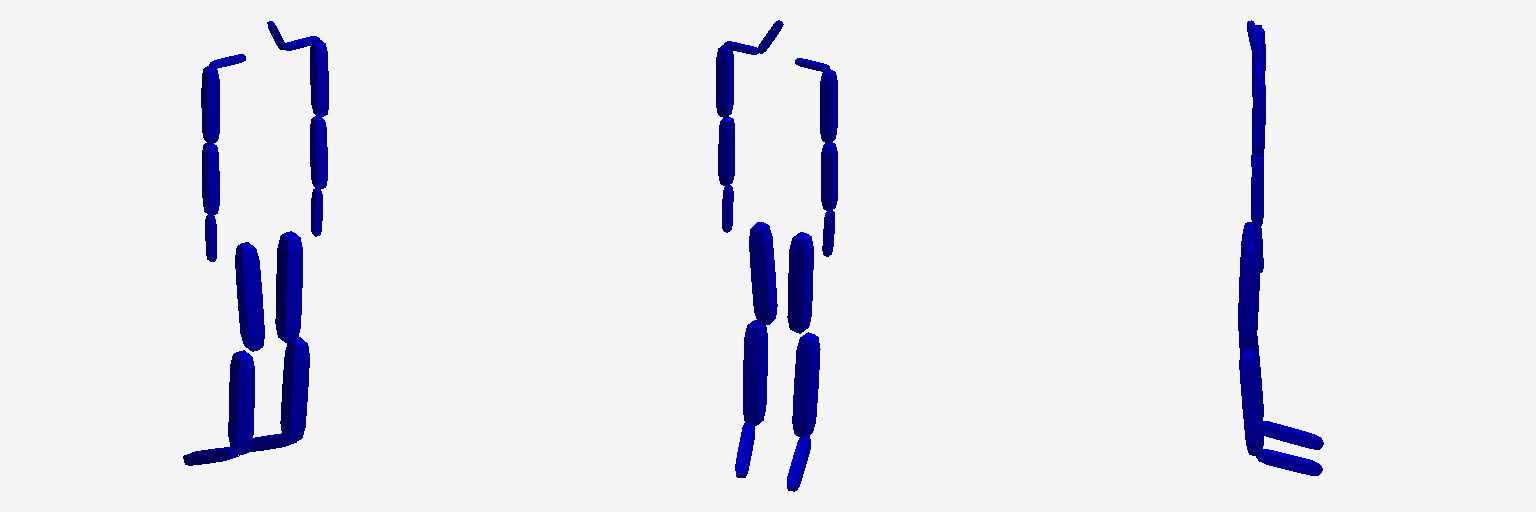
--- Facts derived from the render (not from the file) ---
Views: 3 orthographic renders of the robot side by side, from view 1: azimuth 30°, elevation 25°; view 2: azimuth 150°, elevation 25°; view 3: azimuth 270°, elevation 25°.
Model rocketbox_male with 163 links and 162 joints (156 revolute, 3 continuous, 3 prismatic), rooted at root_link, posed all joints at 0.
Links seen in each view (by area): view 1: upper_right_leg_x_joint_x_link, upper_left_leg_x_joint_x_link, lower_right_leg_joint_x_link, lower_left_leg_joint_x_link, upper_left_arm_x_joint_x_link, upper_right_arm_x_joint_x_link, lower_left_arm_joint_x_link, lower_right_arm_joint_x_link, left_foot_x_joint_x_link; view 2: lower_left_leg_joint_x_link, lower_right_leg_joint_x_link, upper_right_leg_x_joint_x_link, upper_left_leg_x_joint_x_link, upper_left_arm_x_joint_x_link, upper_right_arm_x_joint_x_link, lower_left_arm_joint_x_link, lower_right_arm_joint_x_link, left_foot_x_joint_x_link, right_foot_x_joint_x_link; view 3: lower_right_leg_joint_x_link, upper_right_leg_x_joint_x_link, upper_right_arm_x_joint_x_link, right_foot_x_joint_x_link, left_foot_x_joint_x_link, lower_right_arm_joint_x_link.
Boxes of the visible links, x1,y1,x2,y2 form: upper_right_leg_x_joint_x_link: (275,231,302,342); upper_left_leg_x_joint_x_link: (235,242,264,351); lower_right_leg_joint_x_link: (280,337,309,442); lower_left_leg_joint_x_link: (228,350,254,455); upper_left_arm_x_joint_x_link: (201,66,219,143); upper_right_arm_x_joint_x_link: (310,40,328,117); lower_left_arm_joint_x_link: (202,142,219,215); lower_right_arm_joint_x_link: (310,116,327,189); left_foot_x_joint_x_link: (183,447,238,465); lower_left_leg_joint_x_link: (792,332,820,436); lower_right_leg_joint_x_link: (743,320,767,425); upper_right_leg_x_joint_x_link: (749,222,777,324); upper_left_leg_x_joint_x_link: (787,232,813,333); upper_left_arm_x_joint_x_link: (820,69,837,143); upper_right_arm_x_joint_x_link: (716,45,733,117); lower_left_arm_joint_x_link: (821,142,837,211); lower_right_arm_joint_x_link: (718,116,734,186); left_foot_x_joint_x_link: (787,436,810,491); right_foot_x_joint_x_link: (735,422,754,477); lower_right_leg_joint_x_link: (1239,350,1263,455); upper_right_leg_x_joint_x_link: (1238,243,1259,347); upper_right_arm_x_joint_x_link: (1252,80,1265,156); right_foot_x_joint_x_link: (1256,449,1322,475); left_foot_x_joint_x_link: (1263,421,1323,449); lower_right_arm_joint_x_link: (1251,156,1263,226).
Bounding box of the posed robot: 0.5733 × 0.3676 × 2.07 m (x, y, z).
Meshes: 52 distinct files referenced, 51 mesh visuals loaded (51 OBJ); not drawn: 1 (reference not matched to a file when rendering).

robot.urdf — rocketbox_male:
<?xml version="1.0"?>
<robot xmlns:sensor="http://playerstage.sourceforge.net/gazebo/xmlschema/#sensor"
       xmlns:controller="http://playerstage.sourceforge.net/gazebo/xmlschema/#controller"
       xmlns:interface="http://playerstage.sourceforge.net/gazebo/xmlschema/#interface"
       xmlns:xacro="http://playerstage.sourceforge.net/gazebo/xmlschema/#interface"
       name="rocketbox_male" >

    <material name="Blue">
      <color rgba="0.0 0.0 0.8 1.0"/>
    </material>
    <material name="Green">
      <color rgba="0.0 0.8 0.0 1.0"/>
    </material>
    <material name="Grey">
      <color rgba="0.7 0.7 0.7 1.0"/>
    </material>
    <material name="Grey2">
      <color rgba="0.9 0.9 0.9 1.0"/>
    </material>
    <material name="Red">
      <color rgba="0.8 0.0 0.0 1.0"/>
    </material>
    <material name="White">
      <color rgba="1.0 1.0 1.0 1.0"/>
    </material>
    <material name="Black">
      <color rgba="0.1 0.1 0.1 1.0"/>
    </material>
    <material name="LightGrey">
      <color rgba="0.6 0.6 0.6 1.0"/>
    </material>

    <link name="root_link"/>
      <link name="base_prismatic_dummy1">
        <visual>
          <origin rpy="0 0 0" xyz="0 0 0"/>
          <geometry>
            <box size="0.001 0.001 0.001"/>
          </geometry>
          <material name="Blue"/>
        </visual>
      </link>
      <link name="base_prismatic_dummy2">
        <visual>
          <origin rpy="0 0 0" xyz="0 0 0"/>
          <geometry>
            <box size="0.001 0.001 0.001"/>
          </geometry>
          <material name="Blue"/>
        </visual>
      </link>
      <link name="base_prismatic_dummy3">
        <visual>
          <origin rpy="0 0 0" xyz="0 0 0"/>
          <geometry>
            <box size="0.001 0.001 0.001"/>
          </geometry>
          <material name="Blue"/>
        </visual>
      </link>
      <link name="base_revolute_dummy1">
        <visual>
          <origin rpy="0 0 0" xyz="0 0 0"/>
          <geometry>
            <box size="0.001 0.001 0.001"/>
          </geometry>
          <material name="Blue"/>
        </visual>
      </link>
      <link name="base_revolute_dummy2">
        <visual>
          <origin rpy="0 0 0" xyz="0 0 0"/>
          <geometry>
            <box size="0.001 0.001 0.001"/>
          </geometry>
          <material name="Blue"/>
        </visual>
      </link>
      <joint name="base_prismatic_joint_x" type="prismatic">
        <axis xyz="1 0 0"/>
        <limit effort="10000" lower ="-5.0" upper="5.0" velocity ="0.6"/>
        <origin rpy="0 0 0" xyz="0 0 1.1713"/>
        <parent link="root_link"/>
        <child link="base_prismatic_dummy1"/>
      </joint>
      <joint name="base_prismatic_joint_y" type="prismatic">
        <axis xyz="0 1 0"/>
        <limit effort="10000" lower ="-5.0" upper="5.0" velocity ="0.6"/>
        <origin rpy="0 0 0" xyz="0 0 0"/>
        <parent link="base_prismatic_dummy1"/>
        <child link="base_prismatic_dummy2"/>
      </joint>
      <joint name="base_prismatic_joint_z" type="prismatic">
        <axis xyz="0 0 1"/>
        <limit effort="10000" lower ="-5.0" upper="5.0" velocity ="0.6"/>
        <origin rpy="0 0 0" xyz="0 0 0"/>
        <parent link="base_prismatic_dummy2"/>
        <child link="base_prismatic_dummy3"/>
      </joint>
      <joint name="base_revolute_joint_x" type="continuous">
        <axis xyz="1 0 0"/>
        <origin rpy="0 0 0" xyz="0 0 0"/>
        <parent link="base_prismatic_dummy3"/>
        <child link="base_revolute_dummy1"/>
      </joint>
      <joint name="base_revolute_joint_y" type="continuous">
        <axis xyz="0 1 0"/>
        <origin rpy="0 0 0" xyz="0 0 0"/>
        <parent link="base_revolute_dummy1"/>
        <child link="base_revolute_dummy2"/>
      </joint>
      <joint name="base_revolute_joint_z" type="continuous">
        <axis xyz="0 0 1"/>
        <origin rpy="0 0 0" xyz="0 0 0"/>
        <parent link="base_revolute_dummy2"/>
        <child link="pelvis_link"/>
      </joint>
      <link name="pelvis_link"/>
      <link name="torso_x_joint_z_link"/>
      <link name="torso_x_joint_y_link"/>
      <link name="torso_x_joint_x_link">
        <visual>
          <origin rpy="0 0 0" xyz="0 0 0"/>
          <geometry>
            <mesh filename="../rami/model/torso_x_joint.obj"/>
          </geometry>
          <material name="Blue"/>
        </visual>
        <collision>
          <origin rpy="0 0 0" xyz="0 0 0"/>
          <geometry>
            <mesh filename="../rami/model/torso_x_joint.obj"/>
          </geometry>
        </collision>
      </link>
      <joint name="torso_x_joint_z_joint" type ="revolute">
          <axis xyz="0 0 1"/>
          <limit effort="10000" lower ="-3.14" upper="3.14" velocity ="0.6"/>
          <origin rpy="0 0 0" xyz="0 0.010284 0.327936"/>
          <parent link="pelvis_link"/>
          <child link="torso_x_joint_z_link"/>
      </joint>
      <joint name="torso_x_joint_y_joint" type ="revolute">
          <axis xyz="0 1 0"/>
          <limit effort="10000" lower ="-3.14" upper="3.14" velocity ="0.6"/>
          <origin rpy="0 0 0" xyz="0 0 0"/>
          <parent link="torso_x_joint_z_link"/>
          <child link="torso_x_joint_y_link"/>
      </joint>
      <joint name="torso_x_joint_x_joint" type ="revolute">
          <axis xyz="1 0 0"/>
          <limit effort="10000" lower ="-3.14" upper="3.14" velocity ="0.6"/>
          <origin rpy="0 0 0" xyz="0 0 0"/>
          <parent link="torso_x_joint_y_link"/>
          <child link="torso_x_joint_x_link"/>
      </joint>
      <link name="head_x_joint_z_link"/>
      <link name="head_x_joint_y_link"/>
      <link name="head_x_joint_x_link">
        <visual>
          <origin rpy="0 0 0" xyz="0 0 0"/>
          <geometry>
            <mesh filename="../rami/model/head_x_joint.obj"/>
          </geometry>
          <material name="Blue"/>
        </visual>
        <collision>
          <origin rpy="0 0 0" xyz="0 0 0"/>
          <geometry>
            <mesh filename="../rami/model/head_x_joint.obj"/>
          </geometry>
        </collision>
      </link>
      <joint name="head_x_joint_z_joint" type ="revolute">
          <axis xyz="0 0 1"/>
          <limit effort="10000" lower ="-3.14" upper="3.14" velocity ="0.6"/>
          <origin rpy="0 0 0" xyz="0 -0.020052 0.50232"/>
          <parent link="torso_x_joint_x_link"/>
          <child link="head_x_joint_z_link"/>
      </joint>
      <joint name="head_x_joint_y_joint" type ="revolute">
          <axis xyz="0 1 0"/>
          <limit effort="10000" lower ="-3.14" upper="3.14" velocity ="0.6"/>
          <origin rpy="0 0 0" xyz="0 0 0"/>
          <parent link="head_x_joint_z_link"/>
          <child link="head_x_joint_y_link"/>
      </joint>
      <joint name="head_x_joint_x_joint" type ="revolute">
          <axis xyz="1 0 0"/>
          <limit effort="10000" lower ="-3.14" upper="3.14" velocity ="0.6"/>
          <origin rpy="0 0 0" xyz="0 0 0"/>
          <parent link="head_x_joint_y_link"/>
          <child link="head_x_joint_x_link"/>
      </joint>
      <link name="upper_left_specula_joint_z_link"/>
      <link name="upper_left_specula_joint_y_link"/>
      <link name="upper_left_specula_joint_x_link">
        <visual>
          <origin rpy="0 0 0" xyz="0 0 0"/>
          <geometry>
            <mesh filename="../rami/model/upper_left_specula_joint.obj"/>
          </geometry>
          <material name="Blue"/>
        </visual>
        <collision>
          <origin rpy="0 0 0" xyz="0 0 0"/>
          <geometry>
            <mesh filename="../rami/model/upper_left_specula_joint.obj"/>
          </geometry>
        </collision>
      </link>
      <joint name="upper_left_specula_joint_z_joint" type ="revolute">
          <axis xyz="0 0 1"/>
          <limit effort="10000" lower ="-3.14" upper="3.14" velocity ="0.6"/>
          <origin rpy="0 0 0" xyz="-0.0873828 0.0381 -0.153156"/>
          <parent link="head_x_joint_x_link"/>
          <child link="upper_left_specula_joint_z_link"/>
      </joint>
      <joint name="upper_left_specula_joint_y_joint" type ="revolute">
          <axis xyz="0 1 0"/>
          <limit effort="10000" lower ="-3.14" upper="3.14" velocity ="0.6"/>
          <origin rpy="0 0 0" xyz="0 0 0"/>
          <parent link="upper_left_specula_joint_z_link"/>
          <child link="upper_left_specula_joint_y_link"/>
      </joint>
      <joint name="upper_left_specula_joint_x_joint" type ="revolute">
          <axis xyz="1 0 0"/>
          <limit effort="10000" lower ="-3.14" upper="3.14" velocity ="0.6"/>
          <origin rpy="0 0 0" xyz="0 0 0"/>
          <parent link="upper_left_specula_joint_y_link"/>
          <child link="upper_left_specula_joint_x_link"/>
      </joint>
      <link name="upper_left_arm_x_joint_z_link"/>
      <link name="upper_left_arm_x_joint_y_link"/>
      <link name="upper_left_arm_x_joint_x_link">
        <visual>
          <origin rpy="0 0 0" xyz="0 0 0"/>
          <geometry>
            <mesh filename="../rami/model/upper_left_arm_x_joint.obj"/>
          </geometry>
          <material name="Blue"/>
        </visual>
        <collision>
          <origin rpy="0 0 0" xyz="0 0 0"/>
          <geometry>
            <mesh filename="../rami/model/upper_left_arm_x_joint.obj"/>
          </geometry>
        </collision>
      </link>
      <joint name="upper_left_arm_x_joint_z_joint" type ="revolute">
          <axis xyz="0 0 1"/>
          <limit effort="10000" lower ="-3.14" upper="3.14" velocity ="0.6"/>
          <origin rpy="0 0 0" xyz="-0.169296 0 0"/>
          <parent link="upper_left_specula_joint_x_link"/>
          <child link="upper_left_arm_x_joint_z_link"/>
      </joint>
      <joint name="upper_left_arm_x_joint_y_joint" type ="revolute">
          <axis xyz="0 1 0"/>
          <limit effort="10000" lower ="-3.14" upper="3.14" velocity ="0.6"/>
          <origin rpy="0 0 0" xyz="0 0 0"/>
          <parent link="upper_left_arm_x_joint_z_link"/>
          <child link="upper_left_arm_x_joint_y_link"/>
      </joint>
      <joint name="upper_left_arm_x_joint_x_joint" type ="revolute">
          <axis xyz="1 0 0"/>
          <limit effort="10000" lower ="-3.14" upper="3.14" velocity ="0.6"/>
          <origin rpy="0 0 0" xyz="0 0 0"/>
          <parent link="upper_left_arm_x_joint_y_link"/>
          <child link="upper_left_arm_x_joint_x_link"/>
      </joint>
      <link name="lower_left_arm_joint_z_link"/>
      <link name="lower_left_arm_joint_y_link"/>
      <link name="lower_left_arm_joint_x_link">
        <visual>
          <origin rpy="0 0 0" xyz="0 0 0"/>
          <geometry>
            <mesh filename="../rami/model/lower_left_arm_joint.obj"/>
          </geometry>
          <material name="Blue"/>
        </visual>
        <collision>
          <origin rpy="0 0 0" xyz="0 0 0"/>
          <geometry>
            <mesh filename="../rami/model/lower_left_arm_joint.obj"/>
          </geometry>
        </collision>
      </link>
      <joint name="lower_left_arm_joint_z_joint" type ="revolute">
          <axis xyz="0 0 1"/>
          <limit effort="10000" lower ="-3.14" upper="3.14" velocity ="0.6"/>
          <origin rpy="0 0 0" xyz="-0.001464 -0.00114 -0.34296"/>
          <parent link="upper_left_arm_x_joint_x_link"/>
          <child link="lower_left_arm_joint_z_link"/>
      </joint>
      <joint name="lower_left_arm_joint_y_joint" type ="revolute">
          <axis xyz="0 1 0"/>
          <limit effort="10000" lower ="-3.14" upper="3.14" velocity ="0.6"/>
          <origin rpy="0 0 0" xyz="0 0 0"/>
          <parent link="lower_left_arm_joint_z_link"/>
          <child link="lower_left_arm_joint_y_link"/>
      </joint>
      <joint name="lower_left_arm_joint_x_joint" type ="revolute">
          <axis xyz="1 0 0"/>
          <limit effort="10000" lower ="-3.14" upper="3.14" velocity ="0.6"/>
          <origin rpy="0 0 0" xyz="0 0 0"/>
          <parent link="lower_left_arm_joint_y_link"/>
          <child link="lower_left_arm_joint_x_link"/>
      </joint>
      <link name="left_hand_x_joint_z_link"/>
      <link name="left_hand_x_joint_y_link"/>
      <link name="left_hand_x_joint_x_link">
        <visual>
          <origin rpy="0 0 0" xyz="0 0 0"/>
          <geometry>
            <mesh filename="../rami/model/left_hand_x_joint.obj"/>
          </geometry>
          <material name="Blue"/>
        </visual>
        <collision>
          <origin rpy="0 0 0" xyz="0 0 0"/>
          <geometry>
            <mesh filename="../rami/model/left_hand_x_joint.obj"/>
          </geometry>
        </collision>
      </link>
      <joint name="left_hand_x_joint_z_joint" type ="revolute">
          <axis xyz="0 0 1"/>
          <limit effort="10000" lower ="-3.14" upper="3.14" velocity ="0.6"/>
          <origin rpy="0 0 0" xyz="-0.001728 -0.004992 -0.325056"/>
          <parent link="lower_left_arm_joint_x_link"/>
          <child link="left_hand_x_joint_z_link"/>
      </joint>
      <joint name="left_hand_x_joint_y_joint" type ="revolute">
          <axis xyz="0 1 0"/>
          <limit effort="10000" lower ="-3.14" upper="3.14" velocity ="0.6"/>
          <origin rpy="0 0 0" xyz="0 0 0"/>
          <parent link="left_hand_x_joint_z_link"/>
          <child link="left_hand_x_joint_y_link"/>
      </joint>
      <joint name="left_hand_x_joint_x_joint" type ="revolute">
          <axis xyz="1 0 0"/>
          <limit effort="10000" lower ="-3.14" upper="3.14" velocity ="0.6"/>
          <origin rpy="0 0 0" xyz="0 0 0"/>
          <parent link="left_hand_x_joint_y_link"/>
          <child link="left_hand_x_joint_x_link"/>
      </joint>
      <link name="left_hand_endeffector_joint_z_link"/>
      <link name="left_hand_endeffector_joint_y_link"/>
      <link name="left_hand_endeffector_joint_x_link">
        <visual>
          <origin rpy="0 0 0" xyz="0 0 0"/>
          <geometry>
            <mesh filename="../rami/model/left_hand_endeffector_joint.obj"/>
          </geometry>
          <material name="Blue"/>
        </visual>
        <collision>
          <origin rpy="0 0 0" xyz="0 0 0"/>
          <geometry>
            <mesh filename="../rami/model/left_hand_endeffector_joint.obj"/>
          </geometry>
        </collision>
      </link>
      <joint name="left_hand_endeffector_joint_z_joint" type ="revolute">
          <axis xyz="0 0 1"/>
          <limit effort="10000" lower ="-3.14" upper="3.14" velocity ="0.6"/>
          <origin rpy="0 0 0" xyz="-0.009816 0.007404 -0.21684"/>
          <parent link="left_hand_x_joint_x_link"/>
          <child link="left_hand_endeffector_joint_z_link"/>
      </joint>
      <joint name="left_hand_endeffector_joint_y_joint" type ="revolute">
          <axis xyz="0 1 0"/>
          <limit effort="10000" lower ="-3.14" upper="3.14" velocity ="0.6"/>
          <origin rpy="0 0 0" xyz="0 0 0"/>
          <parent link="left_hand_endeffector_joint_z_link"/>
          <child link="left_hand_endeffector_joint_y_link"/>
      </joint>
      <joint name="left_hand_endeffector_joint_x_joint" type ="revolute">
          <axis xyz="1 0 0"/>
          <limit effort="10000" lower ="-3.14" upper="3.14" velocity ="0.6"/>
          <origin rpy="0 0 0" xyz="0 0 0"/>
          <parent link="left_hand_endeffector_joint_y_link"/>
          <child link="left_hand_endeffector_joint_x_link"/>
      </joint>
      <link name="left_hand_endeffector_jointendsite_z_link"/>
      <link name="left_hand_endeffector_jointendsite_y_link"/>
      <link name="left_hand_endeffector_jointendsite_x_link">
        <visual>
          <origin rpy="0 0 0" xyz="0 0 0"/>
          <geometry>
            <mesh filename="../rami/model/left_hand_endeffector_jointendsite.obj"/>
          </geometry>
          <material name="Blue"/>
        </visual>
        <collision>
          <origin rpy="0 0 0" xyz="0 0 0"/>
          <geometry>
            <mesh filename="../rami/model/left_hand_endeffector_jointendsite.obj"/>
          </geometry>
        </collision>
      </link>
      <joint name="left_hand_endeffector_jointendsite_z_joint" type ="revolute">
          <axis xyz="0 0 1"/>
          <limit effort="10000" lower ="-3.14" upper="3.14" velocity ="0.6"/>
          <origin rpy="0 0 0" xyz="-2.25979e-05 1.70451e-05 -0.000499198"/>
          <parent link="left_hand_endeffector_joint_x_link"/>
          <child link="left_hand_endeffector_jointendsite_z_link"/>
      </joint>
      <joint name="left_hand_endeffector_jointendsite_y_joint" type ="revolute">
          <axis xyz="0 1 0"/>
          <limit effort="10000" lower ="-3.14" upper="3.14" velocity ="0.6"/>
          <origin rpy="0 0 0" xyz="0 0 0"/>
          <parent link="left_hand_endeffector_jointendsite_z_link"/>
          <child link="left_hand_endeffector_jointendsite_y_link"/>
      </joint>
      <joint name="left_hand_endeffector_jointendsite_x_joint" type ="revolute">
          <axis xyz="1 0 0"/>
          <limit effort="10000" lower ="-3.14" upper="3.14" velocity ="0.6"/>
          <origin rpy="0 0 0" xyz="0 0 0"/>
          <parent link="left_hand_endeffector_jointendsite_y_link"/>
          <child link="left_hand_endeffector_jointendsite_x_link"/>
      </joint>
      <link name="left_hand_cp_1_joint_z_link"/>
      <link name="left_hand_cp_1_joint_y_link"/>
      <link name="left_hand_cp_1_joint_x_link">
        <visual>
          <origin rpy="0 0 0" xyz="0 0 0"/>
          <geometry>
            <mesh filename="../rami/model/left_hand_cp_1_joint.obj"/>
          </geometry>
          <material name="Blue"/>
        </visual>
        <collision>
          <origin rpy="0 0 0" xyz="0 0 0"/>
          <geometry>
            <mesh filename="../rami/model/left_hand_cp_1_joint.obj"/>
          </geometry>
        </collision>
      </link>
      <joint name="left_hand_cp_1_joint_z_joint" type ="revolute">
          <axis xyz="0 0 1"/>
          <limit effort="10000" lower ="-3.14" upper="3.14" velocity ="0.6"/>
          <origin rpy="0 0 0" xyz="0.01757 0.0606 -0.22569"/>
          <parent link="left_hand_x_joint_x_link"/>
          <child link="left_hand_cp_1_joint_z_link"/>
      </joint>
      <joint name="left_hand_cp_1_joint_y_joint" type ="revolute">
          <axis xyz="0 1 0"/>
          <limit effort="10000" lower ="-3.14" upper="3.14" velocity ="0.6"/>
          <origin rpy="0 0 0" xyz="0 0 0"/>
          <parent link="left_hand_cp_1_joint_z_link"/>
          <child link="left_hand_cp_1_joint_y_link"/>
      </joint>
      <joint name="left_hand_cp_1_joint_x_joint" type ="revolute">
          <axis xyz="1 0 0"/>
          <limit effort="10000" lower ="-3.14" upper="3.14" velocity ="0.6"/>
          <origin rpy="0 0 0" xyz="0 0 0"/>
          <parent link="left_hand_cp_1_joint_y_link"/>
          <child link="left_hand_cp_1_joint_x_link"/>
      </joint>
      <link name="left_hand_cp_1_jointendsite_z_link"/>
      <link name="left_hand_cp_1_jointendsite_y_link"/>
      <link name="left_hand_cp_1_jointendsite_x_link">
        <visual>
          <origin rpy="0 0 0" xyz="0 0 0"/>
          <geometry>
            <mesh filename="../rami/model/left_hand_cp_1_jointendsite.obj"/>
          </geometry>
          <material name="Blue"/>
        </visual>
        <collision>
          <origin rpy="0 0 0" xyz="0 0 0"/>
          <geometry>
            <mesh filename="../rami/model/left_hand_cp_1_jointendsite.obj"/>
          </geometry>
        </collision>
      </link>
      <joint name="left_hand_cp_1_jointendsite_z_joint" type ="revolute">
          <axis xyz="0 0 1"/>
          <limit effort="10000" lower ="-3.14" upper="3.14" velocity ="0.6"/>
          <origin rpy="0 0 0" xyz="3.74876e-05 0.000129297 -0.000481536"/>
          <parent link="left_hand_cp_1_joint_x_link"/>
          <child link="left_hand_cp_1_jointendsite_z_link"/>
      </joint>
      <joint name="left_hand_cp_1_jointendsite_y_joint" type ="revolute">
          <axis xyz="0 1 0"/>
          <limit effort="10000" lower ="-3.14" upper="3.14" velocity ="0.6"/>
          <origin rpy="0 0 0" xyz="0 0 0"/>
          <parent link="left_hand_cp_1_jointendsite_z_link"/>
          <child link="left_hand_cp_1_jointendsite_y_link"/>
      </joint>
      <joint name="left_hand_cp_1_jointendsite_x_joint" type ="revolute">
          <axis xyz="1 0 0"/>
          <limit effort="10000" lower ="-3.14" upper="3.14" velocity ="0.6"/>
          <origin rpy="0 0 0" xyz="0 0 0"/>
          <parent link="left_hand_cp_1_jointendsite_y_link"/>
          <child link="left_hand_cp_1_jointendsite_x_link"/>
      </joint>
      <link name="left_hand_cp_2_joint_z_link"/>
      <link name="left_hand_cp_2_joint_y_link"/>
      <link name="left_hand_cp_2_joint_x_link">
        <visual>
          <origin rpy="0 0 0" xyz="0 0 0"/>
          <geometry>
            <mesh filename="../rami/model/left_hand_cp_2_joint.obj"/>
          </geometry>
          <material name="Blue"/>
        </visual>
        <collision>
          <origin rpy="0 0 0" xyz="0 0 0"/>
          <geometry>
            <mesh filename="../rami/model/left_hand_cp_2_joint.obj"/>
          </geometry>
        </collision>
      </link>
      <joint name="left_hand_cp_2_joint_z_joint" type ="revolute">
          <axis xyz="0 0 1"/>
          <limit effort="10000" lower ="-3.14" upper="3.14" velocity ="0.6"/>
          <origin rpy="0 0 0" xyz="0.01757 -0.06468 -0.22569"/>
          <parent link="left_hand_x_joint_x_link"/>
          <child link="left_hand_cp_2_joint_z_link"/>
      </joint>
      <joint name="left_hand_cp_2_joint_y_joint" type ="revolute">
          <axis xyz="0 1 0"/>
          <limit effort="10000" lower ="-3.14" upper="3.14" velocity ="0.6"/>
          <origin rpy="0 0 0" xyz="0 0 0"/>
          <parent link="left_hand_cp_2_joint_z_link"/>
          <child link="left_hand_cp_2_joint_y_link"/>
      </joint>
      <joint name="left_hand_cp_2_joint_x_joint" type ="revolute">
          <axis xyz="1 0 0"/>
          <limit effort="10000" lower ="-3.14" upper="3.14" velocity ="0.6"/>
          <origin rpy="0 0 0" xyz="0 0 0"/>
          <parent link="left_hand_cp_2_joint_y_link"/>
          <child link="left_hand_cp_2_joint_x_link"/>
      </joint>
      <link name="left_hand_cp_2_jointendsite_z_link"/>
      <link name="left_hand_cp_2_jointendsite_y_link"/>
      <link name="left_hand_cp_2_jointendsite_x_link">
        <visual>
          <origin rpy="0 0 0" xyz="0 0 0"/>
          <geometry>
            <mesh filename="../rami/model/left_hand_cp_2_jointendsite.obj"/>
          </geometry>
          <material name="Blue"/>
        </visual>
        <collision>
          <origin rpy="0 0 0" xyz="0 0 0"/>
          <geometry>
            <mesh filename="../rami/model/left_hand_cp_2_jointendsite.obj"/>
          </geometry>
        </collision>
      </link>
      <joint name="left_hand_cp_2_jointendsite_z_joint" type ="revolute">
          <axis xyz="0 0 1"/>
          <limit effort="10000" lower ="-3.14" upper="3.14" velocity ="0.6"/>
          <origin rpy="0 0 0" xyz="3.73144e-05 -0.000137365 -0.000479311"/>
          <parent link="left_hand_cp_2_joint_x_link"/>
          <child link="left_hand_cp_2_jointendsite_z_link"/>
      </joint>
      <joint name="left_hand_cp_2_jointendsite_y_joint" type ="revolute">
          <axis xyz="0 1 0"/>
          <limit effort="10000" lower ="-3.14" upper="3.14" velocity ="0.6"/>
          <origin rpy="0 0 0" xyz="0 0 0"/>
          <parent link="left_hand_cp_2_jointendsite_z_link"/>
          <child link="left_hand_cp_2_jointendsite_y_link"/>
      </joint>
      <joint name="left_hand_cp_2_jointendsite_x_joint" type ="revolute">
          <axis xyz="1 0 0"/>
          <limit effort="10000" lower ="-3.14" upper="3.14" velocity ="0.6"/>
          <origin rpy="0 0 0" xyz="0 0 0"/>
          <parent link="left_hand_cp_2_jointendsite_y_link"/>
          <child link="left_hand_cp_2_jointendsite_x_link"/>
      </joint>
      <link name="left_hand_cp_3_joint_z_link"/>
      <link name="left_hand_cp_3_joint_y_link"/>
      <link name="left_hand_cp_3_joint_x_link">
        <visual>
          <origin rpy="0 0 0" xyz="0 0 0"/>
          <geometry>
            <mesh filename="../rami/model/left_hand_cp_3_joint.obj"/>
          </geometry>
          <material name="Blue"/>
        </visual>
        <collision>
          <origin rpy="0 0 0" xyz="0 0 0"/>
          <geometry>
            <mesh filename="../rami/model/left_hand_cp_3_joint.obj"/>
          </geometry>
        </collision>
      </link>
      <joint name="left_hand_cp_3_joint_z_joint" type ="revolute">
          <axis xyz="0 0 1"/>
          <limit effort="10000" lower ="-3.14" upper="3.14" velocity ="0.6"/>
          <origin rpy="0 0 0" xyz="0.01757 -0.06468 -0.02705"/>
          <parent link="left_hand_x_joint_x_link"/>
          <child link="left_hand_cp_3_joint_z_link"/>
      </joint>
      <joint name="left_hand_cp_3_joint_y_joint" type ="revolute">
          <axis xyz="0 1 0"/>
          <limit effort="10000" lower ="-3.14" upper="3.14" velocity ="0.6"/>
          <origin rpy="0 0 0" xyz="0 0 0"/>
          <parent link="left_hand_cp_3_joint_z_link"/>
          <child link="left_hand_cp_3_joint_y_link"/>
      </joint>
      <joint name="left_hand_cp_3_joint_x_joint" type ="revolute">
          <axis xyz="1 0 0"/>
          <limit effort="10000" lower ="-3.14" upper="3.14" velocity ="0.6"/>
          <origin rpy="0 0 0" xyz="0 0 0"/>
          <parent link="left_hand_cp_3_joint_y_link"/>
          <child link="left_hand_cp_3_joint_x_link"/>
      </joint>
      <link name="left_hand_cp_3_jointendsite_z_link"/>
      <link name="left_hand_cp_3_jointendsite_y_link"/>
      <link name="left_hand_cp_3_jointendsite_x_link">
        <visual>
          <origin rpy="0 0 0" xyz="0 0 0"/>
          <geometry>
            <mesh filename="../rami/model/left_hand_cp_3_jointendsite.obj"/>
          </geometry>
          <material name="Blue"/>
        </visual>
        <collision>
          <origin rpy="0 0 0" xyz="0 0 0"/>
          <geometry>
            <mesh filename="../rami/model/left_hand_cp_3_jointendsite.obj"/>
          </geometry>
        </collision>
      </link>
      <joint name="left_hand_cp_3_jointendsite_z_joint" type ="revolute">
          <axis xyz="0 0 1"/>
          <limit effort="10000" lower ="-3.14" upper="3.14" velocity ="0.6"/>
          <origin rpy="0 0 0" xyz="0.000121547 -0.000447448 -0.000187128"/>
          <parent link="left_hand_cp_3_joint_x_link"/>
          <child link="left_hand_cp_3_jointendsite_z_link"/>
      </joint>
      <joint name="left_hand_cp_3_jointendsite_y_joint" type ="revolute">
          <axis xyz="0 1 0"/>
          <limit effort="10000" lower ="-3.14" upper="3.14" velocity ="0.6"/>
          <origin rpy="0 0 0" xyz="0 0 0"/>
          <parent link="left_hand_cp_3_jointendsite_z_link"/>
          <child link="left_hand_cp_3_jointendsite_y_link"/>
      </joint>
      <joint name="left_hand_cp_3_jointendsite_x_joint" type ="revolute">
          <axis xyz="1 0 0"/>
          <limit effort="10000" lower ="-3.14" upper="3.14" velocity ="0.6"/>
          <origin rpy="0 0 0" xyz="0 0 0"/>
          <parent link="left_hand_cp_3_jointendsite_y_link"/>
          <child link="left_hand_cp_3_jointendsite_x_link"/>
      </joint>
      <link name="left_hand_cp_4_joint_z_link"/>
      <link name="left_hand_cp_4_joint_y_link"/>
      <link name="left_hand_cp_4_joint_x_link">
        <visual>
          <origin rpy="0 0 0" xyz="0 0 0"/>
          <geometry>
            <mesh filename="../rami/model/left_hand_cp_4_joint.obj"/>
          </geometry>
          <material name="Blue"/>
        </visual>
        <collision>
          <origin rpy="0 0 0" xyz="0 0 0"/>
          <geometry>
            <mesh filename="../rami/model/left_hand_cp_4_joint.obj"/>
          </geometry>
        </collision>
      </link>
      <joint name="left_hand_cp_4_joint_z_joint" type ="revolute">
          <axis xyz="0 0 1"/>
          <limit effort="10000" lower ="-3.14" upper="3.14" velocity ="0.6"/>
          <origin rpy="0 0 0" xyz="0.01757 0.0606 -0.02705"/>
          <parent link="left_hand_x_joint_x_link"/>
          <child link="left_hand_cp_4_joint_z_link"/>
      </joint>
      <joint name="left_hand_cp_4_joint_y_joint" type ="revolute">
          <axis xyz="0 1 0"/>
          <limit effort="10000" lower ="-3.14" upper="3.14" velocity ="0.6"/>
          <origin rpy="0 0 0" xyz="0 0 0"/>
          <parent link="left_hand_cp_4_joint_z_link"/>
          <child link="left_hand_cp_4_joint_y_link"/>
      </joint>
      <joint name="left_hand_cp_4_joint_x_joint" type ="revolute">
          <axis xyz="1 0 0"/>
          <limit effort="10000" lower ="-3.14" upper="3.14" velocity ="0.6"/>
          <origin rpy="0 0 0" xyz="0 0 0"/>
          <parent link="left_hand_cp_4_joint_y_link"/>
          <child link="left_hand_cp_4_joint_x_link"/>
      </joint>
      <link name="left_hand_cp_4_jointendsite_z_link"/>
      <link name="left_hand_cp_4_jointendsite_y_link"/>
      <link name="left_hand_cp_4_jointendsite_x_link">
        <visual>
          <origin rpy="0 0 0" xyz="0 0 0"/>
          <geometry>
            <mesh filename="../rami/model/left_hand_cp_4_jointendsite.obj"/>
          </geometry>
          <material name="Blue"/>
        </visual>
        <collision>
          <origin rpy="0 0 0" xyz="0 0 0"/>
          <geometry>
            <mesh filename="../rami/model/left_hand_cp_4_jointendsite.obj"/>
          </geometry>
        </collision>
      </link>
      <joint name="left_hand_cp_4_jointendsite_z_joint" type ="revolute">
          <axis xyz="0 0 1"/>
          <limit effort="10000" lower ="-3.14" upper="3.14" velocity ="0.6"/>
          <origin rpy="0 0 0" xyz="0.000127969 0.000441372 -0.000197015"/>
          <parent link="left_hand_cp_4_joint_x_link"/>
          <child link="left_hand_cp_4_jointendsite_z_link"/>
      </joint>
      <joint name="left_hand_cp_4_jointendsite_y_joint" type ="revolute">
          <axis xyz="0 1 0"/>
          <limit effort="10000" lower ="-3.14" upper="3.14" velocity ="0.6"/>
          <origin rpy="0 0 0" xyz="0 0 0"/>
          <parent link="left_hand_cp_4_jointendsite_z_link"/>
          <child link="left_hand_cp_4_jointendsite_y_link"/>
      </joint>
      <joint name="left_hand_cp_4_jointendsite_x_joint" type ="revolute">
          <axis xyz="1 0 0"/>
          <limit effort="10000" lower ="-3.14" upper="3.14" velocity ="0.6"/>
          <origin rpy="0 0 0" xyz="0 0 0"/>
          <parent link="left_hand_cp_4_jointendsite_y_link"/>
          <child link="left_hand_cp_4_jointendsite_x_link"/>
      </joint>
      <link name="upper_right_specula_joint_z_link"/>
      <link name="upper_right_specula_joint_y_link"/>
      <link name="upper_right_specula_joint_x_link">
        <visual>
          <origin rpy="0 0 0" xyz="0 0 0"/>
          <geometry>
            <mesh filename="../rami/model/upper_right_specula_joint.obj"/>
          </geometry>
          <material name="Blue"/>
        </visual>
        <collision>
          <origin rpy="0 0 0" xyz="0 0 0"/>
          <geometry>
            <mesh filename="../rami/model/upper_right_specula_joint.obj"/>
          </geometry>
        </collision>
      </link>
      <joint name="upper_right_specula_joint_z_joint" type ="revolute">
          <axis xyz="0 0 1"/>
          <limit effort="10000" lower ="-3.14" upper="3.14" velocity ="0.6"/>
          <origin rpy="0 0 0" xyz="0.0873852 0.0381 -0.153312"/>
          <parent link="head_x_joint_x_link"/>
          <child link="upper_right_specula_joint_z_link"/>
      </joint>
      <joint name="upper_right_specula_joint_y_joint" type ="revolute">
          <axis xyz="0 1 0"/>
          <limit effort="10000" lower ="-3.14" upper="3.14" velocity ="0.6"/>
          <origin rpy="0 0 0" xyz="0 0 0"/>
          <parent link="upper_right_specula_joint_z_link"/>
          <child link="upper_right_specula_joint_y_link"/>
      </joint>
      <joint name="upper_right_specula_joint_x_joint" type ="revolute">
          <axis xyz="1 0 0"/>
          <limit effort="10000" lower ="-3.14" upper="3.14" velocity ="0.6"/>
          <origin rpy="0 0 0" xyz="0 0 0"/>
          <parent link="upper_right_specula_joint_y_link"/>
          <child link="upper_right_specula_joint_x_link"/>
      </joint>
      <link name="upper_right_arm_x_joint_z_link"/>
      <link name="upper_right_arm_x_joint_y_link"/>
      <link name="upper_right_arm_x_joint_x_link">
        <visual>
          <origin rpy="0 0 0" xyz="0 0 0"/>
          <geometry>
            <mesh filename="../rami/model/upper_right_arm_x_joint.obj"/>
          </geometry>
          <material name="Blue"/>
        </visual>
        <collision>
          <origin rpy="0 0 0" xyz="0 0 0"/>
          <geometry>
            <mesh filename="../rami/model/upper_right_arm_x_joint.obj"/>
          </geometry>
        </collision>
      </link>
      <joint name="upper_right_arm_x_joint_z_joint" type ="revolute">
          <axis xyz="0 0 1"/>
          <limit effort="10000" lower ="-3.14" upper="3.14" velocity ="0.6"/>
          <origin rpy="0 0 0" xyz="0.16926 0.003768 -0.0003"/>
          <parent link="upper_right_specula_joint_x_link"/>
          <child link="upper_right_arm_x_joint_z_link"/>
      </joint>
      <joint name="upper_right_arm_x_joint_y_joint" type ="revolute">
          <axis xyz="0 1 0"/>
          <limit effort="10000" lower ="-3.14" upper="3.14" velocity ="0.6"/>
          <origin rpy="0 0 0" xyz="0 0 0"/>
          <parent link="upper_right_arm_x_joint_z_link"/>
          <child link="upper_right_arm_x_joint_y_link"/>
      </joint>
      <joint name="upper_right_arm_x_joint_x_joint" type ="revolute">
          <axis xyz="1 0 0"/>
          <limit effort="10000" lower ="-3.14" upper="3.14" velocity ="0.6"/>
          <origin rpy="0 0 0" xyz="0 0 0"/>
          <parent link="upper_right_arm_x_joint_y_link"/>
          <child link="upper_right_arm_x_joint_x_link"/>
      </joint>
      <link name="lower_right_arm_joint_z_link"/>
      <link name="lower_right_arm_joint_y_link"/>
      <link name="lower_right_arm_joint_x_link">
        <visual>
          <origin rpy="0 0 0" xyz="0 0 0"/>
          <geometry>
            <mesh filename="../rami/model/lower_right_arm_joint.obj"/>
          </geometry>
          <material name="Blue"/>
        </visual>
        <collision>
          <origin rpy="0 0 0" xyz="0 0 0"/>
          <geometry>
            <mesh filename="../rami/model/lower_right_arm_joint.obj"/>
          </geometry>
        </collision>
      </link>
      <joint name="lower_right_arm_joint_z_joint" type ="revolute">
          <axis xyz="0 0 1"/>
          <limit effort="10000" lower ="-3.14" upper="3.14" velocity ="0.6"/>
          <origin rpy="0 0 0" xyz="-0.005592 -0.007404 -0.342828"/>
          <parent link="upper_right_arm_x_joint_x_link"/>
          <child link="lower_right_arm_joint_z_link"/>
      </joint>
      <joint name="lower_right_arm_joint_y_joint" type ="revolute">
          <axis xyz="0 1 0"/>
          <limit effort="10000" lower ="-3.14" upper="3.14" velocity ="0.6"/>
          <origin rpy="0 0 0" xyz="0 0 0"/>
          <parent link="lower_right_arm_joint_z_link"/>
          <child link="lower_right_arm_joint_y_link"/>
      </joint>
      <joint name="lower_right_arm_joint_x_joint" type ="revolute">
          <axis xyz="1 0 0"/>
          <limit effort="10000" lower ="-3.14" upper="3.14" velocity ="0.6"/>
          <origin rpy="0 0 0" xyz="0 0 0"/>
          <parent link="lower_right_arm_joint_y_link"/>
          <child link="lower_right_arm_joint_x_link"/>
      </joint>
      <link name="right_hand_x_joint_z_link"/>
      <link name="right_hand_x_joint_y_link"/>
      <link name="right_hand_x_joint_x_link">
        <visual>
          <origin rpy="0 0 0" xyz="0 0 0"/>
          <geometry>
            <mesh filename="../rami/model/right_hand_x_joint.obj"/>
          </geometry>
          <material name="Blue"/>
        </visual>
        <collision>
          <origin rpy="0 0 0" xyz="0 0 0"/>
          <geometry>
            <mesh filename="../rami/model/right_hand_x_joint.obj"/>
          </geometry>
        </collision>
      </link>
      <joint name="right_hand_x_joint_z_joint" type ="revolute">
          <axis xyz="0 0 1"/>
          <limit effort="10000" lower ="-3.14" upper="3.14" velocity ="0.6"/>
          <origin rpy="0 0 0" xyz="-0.004728 -0.003084 -0.325056"/>
          <parent link="lower_right_arm_joint_x_link"/>
          <child link="right_hand_x_joint_z_link"/>
      </joint>
      <joint name="right_hand_x_joint_y_joint" type ="revolute">
          <axis xyz="0 1 0"/>
          <limit effort="10000" lower ="-3.14" upper="3.14" velocity ="0.6"/>
          <origin rpy="0 0 0" xyz="0 0 0"/>
          <parent link="right_hand_x_joint_z_link"/>
          <child link="right_hand_x_joint_y_link"/>
      </joint>
      <joint name="right_hand_x_joint_x_joint" type ="revolute">
          <axis xyz="1 0 0"/>
          <limit effort="10000" lower ="-3.14" upper="3.14" velocity ="0.6"/>
          <origin rpy="0 0 0" xyz="0 0 0"/>
          <parent link="right_hand_x_joint_y_link"/>
          <child link="right_hand_x_joint_x_link"/>
      </joint>
      <link name="right_hand_endeffector_joint_z_link"/>
      <link name="right_hand_endeffector_joint_y_link"/>
      <link name="right_hand_endeffector_joint_x_link">
        <visual>
          <origin rpy="0 0 0" xyz="0 0 0"/>
          <geometry>
            <mesh filename="../rami/model/right_hand_endeffector_joint.obj"/>
          </geometry>
          <material name="Blue"/>
        </visual>
        <collision>
          <origin rpy="0 0 0" xyz="0 0 0"/>
          <geometry>
            <mesh filename="../rami/model/right_hand_endeffector_joint.obj"/>
          </geometry>
        </collision>
      </link>
      <joint name="right_hand_endeffector_joint_z_joint" type ="revolute">
          <axis xyz="0 0 1"/>
          <limit effort="10000" lower ="-3.14" upper="3.14" velocity ="0.6"/>
          <origin rpy="0 0 0" xyz="-0.000348 0.010884 -0.21684"/>
          <parent link="right_hand_x_joint_x_link"/>
          <child link="right_hand_endeffector_joint_z_link"/>
      </joint>
      <joint name="right_hand_endeffector_joint_y_joint" type ="revolute">
          <axis xyz="0 1 0"/>
          <limit effort="10000" lower ="-3.14" upper="3.14" velocity ="0.6"/>
          <origin rpy="0 0 0" xyz="0 0 0"/>
          <parent link="right_hand_endeffector_joint_z_link"/>
          <child link="right_hand_endeffector_joint_y_link"/>
      </joint>
      <joint name="right_hand_endeffector_joint_x_joint" type ="revolute">
          <axis xyz="1 0 0"/>
          <limit effort="10000" lower ="-3.14" upper="3.14" velocity ="0.6"/>
          <origin rpy="0 0 0" xyz="0 0 0"/>
          <parent link="right_hand_endeffector_joint_y_link"/>
          <child link="right_hand_endeffector_joint_x_link"/>
      </joint>
      <link name="right_hand_endeffector_jointendsite_z_link"/>
      <link name="right_hand_endeffector_jointendsite_y_link"/>
      <link name="right_hand_endeffector_jointendsite_x_link">
        <visual>
          <origin rpy="0 0 0" xyz="0 0 0"/>
          <geometry>
            <mesh filename="../rami/model/right_hand_endeffector_jointendsite.obj"/>
          </geometry>
          <material name="Blue"/>
        </visual>
        <collision>
          <origin rpy="0 0 0" xyz="0 0 0"/>
          <geometry>
            <mesh filename="../rami/model/right_hand_endeffector_jointendsite.obj"/>
          </geometry>
        </collision>
      </link>
      <joint name="right_hand_endeffector_jointendsite_z_joint" type ="revolute">
          <axis xyz="0 0 1"/>
          <limit effort="10000" lower ="-3.14" upper="3.14" velocity ="0.6"/>
          <origin rpy="0 0 0" xyz="-8.01425e-07 2.50653e-05 -0.000499371"/>
          <parent link="right_hand_endeffector_joint_x_link"/>
          <child link="right_hand_endeffector_jointendsite_z_link"/>
      </joint>
      <joint name="right_hand_endeffector_jointendsite_y_joint" type ="revolute">
          <axis xyz="0 1 0"/>
          <limit effort="10000" lower ="-3.14" upper="3.14" velocity ="0.6"/>
          <origin rpy="0 0 0" xyz="0 0 0"/>
          <parent link="right_hand_endeffector_jointendsite_z_link"/>
          <child link="right_hand_endeffector_jointendsite_y_link"/>
      </joint>
      <joint name="right_hand_endeffector_jointendsite_x_joint" type ="revolute">
          <axis xyz="1 0 0"/>
          <limit effort="10000" lower ="-3.14" upper="3.14" velocity ="0.6"/>
          <origin rpy="0 0 0" xyz="0 0 0"/>
          <parent link="right_hand_endeffector_jointendsite_y_link"/>
          <child link="right_hand_endeffector_jointendsite_x_link"/>
      </joint>
      <link name="right_hand_cp_1_joint_z_link"/>
      <link name="right_hand_cp_1_joint_y_link"/>
      <link name="right_hand_cp_1_joint_x_link">
        <visual>
          <origin rpy="0 0 0" xyz="0 0 0"/>
          <geometry>
            <mesh filename="../rami/model/right_hand_cp_1_joint.obj"/>
          </geometry>
          <material name="Blue"/>
        </visual>
        <collision>
          <origin rpy="0 0 0" xyz="0 0 0"/>
          <geometry>
            <mesh filename="../rami/model/right_hand_cp_1_joint.obj"/>
          </geometry>
        </collision>
      </link>
      <joint name="right_hand_cp_1_joint_z_joint" type ="revolute">
          <axis xyz="0 0 1"/>
          <limit effort="10000" lower ="-3.14" upper="3.14" velocity ="0.6"/>
          <origin rpy="0 0 0" xyz="-0.01229 0.05553 -0.01712"/>
          <parent link="right_hand_x_joint_x_link"/>
          <child link="right_hand_cp_1_joint_z_link"/>
      </joint>
      <joint name="right_hand_cp_1_joint_y_joint" type ="revolute">
          <axis xyz="0 1 0"/>
          <limit effort="10000" lower ="-3.14" upper="3.14" velocity ="0.6"/>
          <origin rpy="0 0 0" xyz="0 0 0"/>
          <parent link="right_hand_cp_1_joint_z_link"/>
          <child link="right_hand_cp_1_joint_y_link"/>
      </joint>
      <joint name="right_hand_cp_1_joint_x_joint" type ="revolute">
          <axis xyz="1 0 0"/>
          <limit effort="10000" lower ="-3.14" upper="3.14" velocity ="0.6"/>
          <origin rpy="0 0 0" xyz="0 0 0"/>
          <parent link="right_hand_cp_1_joint_y_link"/>
          <child link="right_hand_cp_1_joint_x_link"/>
      </joint>
      <link name="right_hand_cp_1_jointendsite_z_link"/>
      <link name="right_hand_cp_1_jointendsite_y_link"/>
      <link name="right_hand_cp_1_jointendsite_x_link">
        <visual>
          <origin rpy="0 0 0" xyz="0 0 0"/>
          <geometry>
            <mesh filename="../rami/model/right_hand_cp_1_jointendsite.obj"/>
          </geometry>
          <material name="Blue"/>
        </visual>
        <collision>
          <origin rpy="0 0 0" xyz="0 0 0"/>
          <geometry>
            <mesh filename="../rami/model/right_hand_cp_1_jointendsite.obj"/>
          </geometry>
        </collision>
      </link>
      <joint name="right_hand_cp_1_jointendsite_z_joint" type ="revolute">
          <axis xyz="0 0 1"/>
          <limit effort="10000" lower ="-3.14" upper="3.14" velocity ="0.6"/>
          <origin rpy="0 0 0" xyz="-0.000103461 0.000467467 -0.000144121"/>
          <parent link="right_hand_cp_1_joint_x_link"/>
          <child link="right_hand_cp_1_jointendsite_z_link"/>
      </joint>
      <joint name="right_hand_cp_1_jointendsite_y_joint" type ="revolute">
          <axis xyz="0 1 0"/>
          <limit effort="10000" lower ="-3.14" upper="3.14" velocity ="0.6"/>
          <origin rpy="0 0 0" xyz="0 0 0"/>
          <parent link="right_hand_cp_1_jointendsite_z_link"/>
          <child link="right_hand_cp_1_jointendsite_y_link"/>
      </joint>
      <joint name="right_hand_cp_1_jointendsite_x_joint" type ="revolute">
          <axis xyz="1 0 0"/>
          <limit effort="10000" lower ="-3.14" upper="3.14" velocity ="0.6"/>
          <origin rpy="0 0 0" xyz="0 0 0"/>
          <parent link="right_hand_cp_1_jointendsite_y_link"/>
          <child link="right_hand_cp_1_jointendsite_x_link"/>
      </joint>
      <link name="right_hand_cp_2_joint_z_link"/>
      <link name="right_hand_cp_2_joint_y_link"/>
      <link name="right_hand_cp_2_joint_x_link">
        <visual>
          <origin rpy="0 0 0" xyz="0 0 0"/>
          <geometry>
            <mesh filename="../rami/model/right_hand_cp_2_joint.obj"/>
          </geometry>
          <material name="Blue"/>
        </visual>
        <collision>
          <origin rpy="0 0 0" xyz="0 0 0"/>
          <geometry>
            <mesh filename="../rami/model/right_hand_cp_2_joint.obj"/>
          </geometry>
        </collision>
      </link>
      <joint name="right_hand_cp_2_joint_z_joint" type ="revolute">
          <axis xyz="0 0 1"/>
          <limit effort="10000" lower ="-3.14" upper="3.14" velocity ="0.6"/>
          <origin rpy="0 0 0" xyz="-0.01229 -0.06975 -0.01712"/>
          <parent link="right_hand_x_joint_x_link"/>
          <child link="right_hand_cp_2_joint_z_link"/>
      </joint>
      <joint name="right_hand_cp_2_joint_y_joint" type ="revolute">
          <axis xyz="0 1 0"/>
          <limit effort="10000" lower ="-3.14" upper="3.14" velocity ="0.6"/>
          <origin rpy="0 0 0" xyz="0 0 0"/>
          <parent link="right_hand_cp_2_joint_z_link"/>
          <child link="right_hand_cp_2_joint_y_link"/>
      </joint>
      <joint name="right_hand_cp_2_joint_x_joint" type ="revolute">
          <axis xyz="1 0 0"/>
          <limit effort="10000" lower ="-3.14" upper="3.14" velocity ="0.6"/>
          <origin rpy="0 0 0" xyz="0 0 0"/>
          <parent link="right_hand_cp_2_joint_y_link"/>
          <child link="right_hand_cp_2_joint_x_link"/>
      </joint>
      <link name="right_hand_cp_2_jointendsite_z_link"/>
      <link name="right_hand_cp_2_jointendsite_y_link"/>
      <link name="right_hand_cp_2_jointendsite_x_link">
        <visual>
          <origin rpy="0 0 0" xyz="0 0 0"/>
          <geometry>
            <mesh filename="../rami/model/right_hand_cp_2_jointendsite.obj"/>
          </geometry>
          <material name="Blue"/>
        </visual>
        <collision>
          <origin rpy="0 0 0" xyz="0 0 0"/>
          <geometry>
            <mesh filename="../rami/model/right_hand_cp_2_jointendsite.obj"/>
          </geometry>
        </collision>
      </link>
      <joint name="right_hand_cp_2_jointendsite_z_joint" type ="revolute">
          <axis xyz="0 0 1"/>
          <limit effort="10000" lower ="-3.14" upper="3.14" velocity ="0.6"/>
          <origin rpy="0 0 0" xyz="-8.43349e-05 -0.00047863 -0.000117479"/>
          <parent link="right_hand_cp_2_joint_x_link"/>
          <child link="right_hand_cp_2_jointendsite_z_link"/>
      </joint>
      <joint name="right_hand_cp_2_jointendsite_y_joint" type ="revolute">
          <axis xyz="0 1 0"/>
          <limit effort="10000" lower ="-3.14" upper="3.14" velocity ="0.6"/>
          <origin rpy="0 0 0" xyz="0 0 0"/>
          <parent link="right_hand_cp_2_jointendsite_z_link"/>
          <child link="right_hand_cp_2_jointendsite_y_link"/>
      </joint>
      <joint name="right_hand_cp_2_jointendsite_x_joint" type ="revolute">
          <axis xyz="1 0 0"/>
          <limit effort="10000" lower ="-3.14" upper="3.14" velocity ="0.6"/>
          <origin rpy="0 0 0" xyz="0 0 0"/>
          <parent link="right_hand_cp_2_jointendsite_y_link"/>
          <child link="right_hand_cp_2_jointendsite_x_link"/>
      </joint>
      <link name="right_hand_cp_3_joint_z_link"/>
      <link name="right_hand_cp_3_joint_y_link"/>
      <link name="right_hand_cp_3_joint_x_link">
        <visual>
          <origin rpy="0 0 0" xyz="0 0 0"/>
          <geometry>
            <mesh filename="../rami/model/right_hand_cp_3_joint.obj"/>
          </geometry>
          <material name="Blue"/>
        </visual>
        <collision>
          <origin rpy="0 0 0" xyz="0 0 0"/>
          <geometry>
            <mesh filename="../rami/model/right_hand_cp_3_joint.obj"/>
          </geometry>
        </collision>
      </link>
      <joint name="right_hand_cp_3_joint_z_joint" type ="revolute">
          <axis xyz="0 0 1"/>
          <limit effort="10000" lower ="-3.14" upper="3.14" velocity ="0.6"/>
          <origin rpy="0 0 0" xyz="-0.01229 -0.06975 -0.21577"/>
          <parent link="right_hand_x_joint_x_link"/>
          <child link="right_hand_cp_3_joint_z_link"/>
      </joint>
      <joint name="right_hand_cp_3_joint_y_joint" type ="revolute">
          <axis xyz="0 1 0"/>
          <limit effort="10000" lower ="-3.14" upper="3.14" velocity ="0.6"/>
          <origin rpy="0 0 0" xyz="0 0 0"/>
          <parent link="right_hand_cp_3_joint_z_link"/>
          <child link="right_hand_cp_3_joint_y_link"/>
      </joint>
      <joint name="right_hand_cp_3_joint_x_joint" type ="revolute">
          <axis xyz="1 0 0"/>
          <limit effort="10000" lower ="-3.14" upper="3.14" velocity ="0.6"/>
          <origin rpy="0 0 0" xyz="0 0 0"/>
          <parent link="right_hand_cp_3_joint_y_link"/>
          <child link="right_hand_cp_3_joint_x_link"/>
      </joint>
      <link name="right_hand_cp_3_jointendsite_z_link"/>
      <link name="right_hand_cp_3_jointendsite_y_link"/>
      <link name="right_hand_cp_3_jointendsite_x_link">
        <visual>
          <origin rpy="0 0 0" xyz="0 0 0"/>
          <geometry>
            <mesh filename="../rami/model/right_hand_cp_3_jointendsite.obj"/>
          </geometry>
          <material name="Blue"/>
        </visual>
        <collision>
          <origin rpy="0 0 0" xyz="0 0 0"/>
          <geometry>
            <mesh filename="../rami/model/right_hand_cp_3_jointendsite.obj"/>
          </geometry>
        </collision>
      </link>
      <joint name="right_hand_cp_3_jointendsite_z_joint" type ="revolute">
          <axis xyz="0 0 1"/>
          <limit effort="10000" lower ="-3.14" upper="3.14" velocity ="0.6"/>
          <origin rpy="0 0 0" xyz="-2.7059e-05 -0.000153569 -0.000475062"/>
          <parent link="right_hand_cp_3_joint_x_link"/>
          <child link="right_hand_cp_3_jointendsite_z_link"/>
      </joint>
      <joint name="right_hand_cp_3_jointendsite_y_joint" type ="revolute">
          <axis xyz="0 1 0"/>
          <limit effort="10000" lower ="-3.14" upper="3.14" velocity ="0.6"/>
          <origin rpy="0 0 0" xyz="0 0 0"/>
          <parent link="right_hand_cp_3_jointendsite_z_link"/>
          <child link="right_hand_cp_3_jointendsite_y_link"/>
      </joint>
      <joint name="right_hand_cp_3_jointendsite_x_joint" type ="revolute">
          <axis xyz="1 0 0"/>
          <limit effort="10000" lower ="-3.14" upper="3.14" velocity ="0.6"/>
          <origin rpy="0 0 0" xyz="0 0 0"/>
          <parent link="right_hand_cp_3_jointendsite_y_link"/>
          <child link="right_hand_cp_3_jointendsite_x_link"/>
      </joint>
      <link name="right_hand_cp_4_joint_z_link"/>
      <link name="right_hand_cp_4_joint_y_link"/>
      <link name="right_hand_cp_4_joint_x_link">
        <visual>
          <origin rpy="0 0 0" xyz="0 0 0"/>
          <geometry>
            <mesh filename="../rami/model/right_hand_cp_4_joint.obj"/>
          </geometry>
          <material name="Blue"/>
        </visual>
        <collision>
          <origin rpy="0 0 0" xyz="0 0 0"/>
          <geometry>
            <mesh filename="../rami/model/right_hand_cp_4_joint.obj"/>
          </geometry>
        </collision>
      </link>
      <joint name="right_hand_cp_4_joint_z_joint" type ="revolute">
          <axis xyz="0 0 1"/>
          <limit effort="10000" lower ="-3.14" upper="3.14" velocity ="0.6"/>
          <origin rpy="0 0 0" xyz="-0.01229 0.05553 -0.21577"/>
          <parent link="right_hand_x_joint_x_link"/>
          <child link="right_hand_cp_4_joint_z_link"/>
      </joint>
      <joint name="right_hand_cp_4_joint_y_joint" type ="revolute">
          <axis xyz="0 1 0"/>
          <limit effort="10000" lower ="-3.14" upper="3.14" velocity ="0.6"/>
          <origin rpy="0 0 0" xyz="0 0 0"/>
          <parent link="right_hand_cp_4_joint_z_link"/>
          <child link="right_hand_cp_4_joint_y_link"/>
      </joint>
      <joint name="right_hand_cp_4_joint_x_joint" type ="revolute">
          <axis xyz="1 0 0"/>
          <limit effort="10000" lower ="-3.14" upper="3.14" velocity ="0.6"/>
          <origin rpy="0 0 0" xyz="0 0 0"/>
          <parent link="right_hand_cp_4_joint_y_link"/>
          <child link="right_hand_cp_4_joint_x_link"/>
      </joint>
      <link name="right_hand_cp_4_jointendsite_z_link"/>
      <link name="right_hand_cp_4_jointendsite_y_link"/>
      <link name="right_hand_cp_4_jointendsite_x_link">
        <visual>
          <origin rpy="0 0 0" xyz="0 0 0"/>
          <geometry>
            <mesh filename="../rami/model/right_hand_cp_4_jointendsite.obj"/>
          </geometry>
          <material name="Blue"/>
        </visual>
        <collision>
          <origin rpy="0 0 0" xyz="0 0 0"/>
          <geometry>
            <mesh filename="../rami/model/right_hand_cp_4_jointendsite.obj"/>
          </geometry>
        </collision>
      </link>
      <joint name="right_hand_cp_4_jointendsite_z_joint" type ="revolute">
          <axis xyz="0 0 1"/>
          <limit effort="10000" lower ="-3.14" upper="3.14" velocity ="0.6"/>
          <origin rpy="0 0 0" xyz="-2.75388e-05 0.000124429 -0.000483486"/>
          <parent link="right_hand_cp_4_joint_x_link"/>
          <child link="right_hand_cp_4_jointendsite_z_link"/>
      </joint>
      <joint name="right_hand_cp_4_jointendsite_y_joint" type ="revolute">
          <axis xyz="0 1 0"/>
          <limit effort="10000" lower ="-3.14" upper="3.14" velocity ="0.6"/>
          <origin rpy="0 0 0" xyz="0 0 0"/>
          <parent link="right_hand_cp_4_jointendsite_z_link"/>
          <child link="right_hand_cp_4_jointendsite_y_link"/>
      </joint>
      <joint name="right_hand_cp_4_jointendsite_x_joint" type ="revolute">
          <axis xyz="1 0 0"/>
          <limit effort="10000" lower ="-3.14" upper="3.14" velocity ="0.6"/>
          <origin rpy="0 0 0" xyz="0 0 0"/>
          <parent link="right_hand_cp_4_jointendsite_y_link"/>
          <child link="right_hand_cp_4_jointendsite_x_link"/>
      </joint>
      <link name="upper_left_leg_x_joint_z_link"/>
      <link name="upper_left_leg_x_joint_y_link"/>
      <link name="upper_left_leg_x_joint_x_link">
        <visual>
          <origin rpy="0 0 0" xyz="0 0 0"/>
          <geometry>
            <mesh filename="../rami/model/upper_left_leg_x_joint.obj"/>
          </geometry>
          <material name="Blue"/>
        </visual>
        <collision>
          <origin rpy="0 0 0" xyz="0 0 0"/>
          <geometry>
            <mesh filename="../rami/model/upper_left_leg_x_joint.obj"/>
          </geometry>
        </collision>
      </link>
      <joint name="upper_left_leg_x_joint_z_joint" type ="revolute">
          <axis xyz="0 0 1"/>
          <limit effort="10000" lower ="-3.14" upper="3.14" velocity ="0.6"/>
          <origin rpy="0 0 0" xyz="-0.106044 -0.001956 -0.144312"/>
          <parent link="pelvis_link"/>
          <child link="upper_left_leg_x_joint_z_link"/>
      </joint>
      <joint name="upper_left_leg_x_joint_y_joint" type ="revolute">
          <axis xyz="0 1 0"/>
          <limit effort="10000" lower ="-3.14" upper="3.14" velocity ="0.6"/>
          <origin rpy="0 0 0" xyz="0 0 0"/>
          <parent link="upper_left_leg_x_joint_z_link"/>
          <child link="upper_left_leg_x_joint_y_link"/>
      </joint>
      <joint name="upper_left_leg_x_joint_x_joint" type ="revolute">
          <axis xyz="1 0 0"/>
          <limit effort="10000" lower ="-3.14" upper="3.14" velocity ="0.6"/>
          <origin rpy="0 0 0" xyz="0 0 0"/>
          <parent link="upper_left_leg_x_joint_y_link"/>
          <child link="upper_left_leg_x_joint_x_link"/>
      </joint>
      <link name="lower_left_leg_joint_z_link"/>
      <link name="lower_left_leg_joint_y_link"/>
      <link name="lower_left_leg_joint_x_link">
        <visual>
          <origin rpy="0 0 0" xyz="0 0 0"/>
          <geometry>
            <mesh filename="../rami/model/lower_left_leg_joint.obj"/>
          </geometry>
          <material name="Blue"/>
        </visual>
        <collision>
          <origin rpy="0 0 0" xyz="0 0 0"/>
          <geometry>
            <mesh filename="../rami/model/lower_left_leg_joint.obj"/>
          </geometry>
        </collision>
      </link>
      <joint name="lower_left_leg_joint_z_joint" type ="revolute">
          <axis xyz="0 0 1"/>
          <limit effort="10000" lower ="-3.14" upper="3.14" velocity ="0.6"/>
          <origin rpy="0 0 0" xyz="-0.025332 -0.01956 -0.477768"/>
          <parent link="upper_left_leg_x_joint_x_link"/>
          <child link="lower_left_leg_joint_z_link"/>
      </joint>
      <joint name="lower_left_leg_joint_y_joint" type ="revolute">
          <axis xyz="0 1 0"/>
          <limit effort="10000" lower ="-3.14" upper="3.14" velocity ="0.6"/>
          <origin rpy="0 0 0" xyz="0 0 0"/>
          <parent link="lower_left_leg_joint_z_link"/>
          <child link="lower_left_leg_joint_y_link"/>
      </joint>
      <joint name="lower_left_leg_joint_x_joint" type ="revolute">
          <axis xyz="1 0 0"/>
          <limit effort="10000" lower ="-3.14" upper="3.14" velocity ="0.6"/>
          <origin rpy="0 0 0" xyz="0 0 0"/>
          <parent link="lower_left_leg_joint_y_link"/>
          <child link="lower_left_leg_joint_x_link"/>
      </joint>
      <link name="left_foot_x_joint_z_link"/>
      <link name="left_foot_x_joint_y_link"/>
      <link name="left_foot_x_joint_x_link">
        <visual>
          <origin rpy="0 0 0" xyz="0 0 0"/>
          <geometry>
            <mesh filename="../rami/model/left_foot_x_joint.obj"/>
          </geometry>
          <material name="Blue"/>
        </visual>
        <collision>
          <origin rpy="0 0 0" xyz="0 0 0"/>
          <geometry>
            <mesh filename="../rami/model/left_foot_x_joint.obj"/>
          </geometry>
        </collision>
      </link>
      <joint name="left_foot_x_joint_z_joint" type ="revolute">
          <axis xyz="0 0 1"/>
          <limit effort="10000" lower ="-3.14" upper="3.14" velocity ="0.6"/>
          <origin rpy="0 0 0" xyz="-0.008988 0.036996 -0.474504"/>
          <parent link="lower_left_leg_joint_x_link"/>
          <child link="left_foot_x_joint_z_link"/>
      </joint>
      <joint name="left_foot_x_joint_y_joint" type ="revolute">
          <axis xyz="0 1 0"/>
          <limit effort="10000" lower ="-3.14" upper="3.14" velocity ="0.6"/>
          <origin rpy="0 0 0" xyz="0 0 0"/>
          <parent link="left_foot_x_joint_z_link"/>
          <child link="left_foot_x_joint_y_link"/>
      </joint>
      <joint name="left_foot_x_joint_x_joint" type ="revolute">
          <axis xyz="1 0 0"/>
          <limit effort="10000" lower ="-3.14" upper="3.14" velocity ="0.6"/>
          <origin rpy="0 0 0" xyz="0 0 0"/>
          <parent link="left_foot_x_joint_y_link"/>
          <child link="left_foot_x_joint_x_link"/>
      </joint>
      <link name="left_foot_cp_1_joint_z_link"/>
      <link name="left_foot_cp_1_joint_y_link"/>
      <link name="left_foot_cp_1_joint_x_link">
        <visual>
          <origin rpy="0 0 0" xyz="0 0 0"/>
          <geometry>
            <mesh filename="../rami/model/left_foot_cp_1_joint.obj"/>
          </geometry>
          <material name="Blue"/>
        </visual>
        <collision>
          <origin rpy="0 0 0" xyz="0 0 0"/>
          <geometry>
            <mesh filename="../rami/model/left_foot_cp_1_joint.obj"/>
          </geometry>
        </collision>
      </link>
      <joint name="left_foot_cp_1_joint_z_joint" type ="revolute">
          <axis xyz="0 0 1"/>
          <limit effort="10000" lower ="-3.14" upper="3.14" velocity ="0.6"/>
          <origin rpy="0 0 0" xyz="0.08027 0.27372 -0.12195"/>
          <parent link="left_foot_x_joint_x_link"/>
          <child link="left_foot_cp_1_joint_z_link"/>
      </joint>
      <joint name="left_foot_cp_1_joint_y_joint" type ="revolute">
          <axis xyz="0 1 0"/>
          <limit effort="10000" lower ="-3.14" upper="3.14" velocity ="0.6"/>
          <origin rpy="0 0 0" xyz="0 0 0"/>
          <parent link="left_foot_cp_1_joint_z_link"/>
          <child link="left_foot_cp_1_joint_y_link"/>
      </joint>
      <joint name="left_foot_cp_1_joint_x_joint" type ="revolute">
          <axis xyz="1 0 0"/>
          <limit effort="10000" lower ="-3.14" upper="3.14" velocity ="0.6"/>
          <origin rpy="0 0 0" xyz="0 0 0"/>
          <parent link="left_foot_cp_1_joint_y_link"/>
          <child link="left_foot_cp_1_joint_x_link"/>
      </joint>
      <link name="left_foot_cp_1_jointendsite_z_link"/>
      <link name="left_foot_cp_1_jointendsite_y_link"/>
      <link name="left_foot_cp_1_jointendsite_x_link">
        <visual>
          <origin rpy="0 0 0" xyz="0 0 0"/>
          <geometry>
            <mesh filename="../rami/model/left_foot_cp_1_jointendsite.obj"/>
          </geometry>
          <material name="Blue"/>
        </visual>
        <collision>
          <origin rpy="0 0 0" xyz="0 0 0"/>
          <geometry>
            <mesh filename="../rami/model/left_foot_cp_1_jointendsite.obj"/>
          </geometry>
        </collision>
      </link>
      <joint name="left_foot_cp_1_jointendsite_z_joint" type ="revolute">
          <axis xyz="0 0 1"/>
          <limit effort="10000" lower ="-3.14" upper="3.14" velocity ="0.6"/>
          <origin rpy="0 0 0" xyz="0.000129375 0.000441168 -0.000196553"/>
          <parent link="left_foot_cp_1_joint_x_link"/>
          <child link="left_foot_cp_1_jointendsite_z_link"/>
      </joint>
      <joint name="left_foot_cp_1_jointendsite_y_joint" type ="revolute">
          <axis xyz="0 1 0"/>
          <limit effort="10000" lower ="-3.14" upper="3.14" velocity ="0.6"/>
          <origin rpy="0 0 0" xyz="0 0 0"/>
          <parent link="left_foot_cp_1_jointendsite_z_link"/>
          <child link="left_foot_cp_1_jointendsite_y_link"/>
      </joint>
      <joint name="left_foot_cp_1_jointendsite_x_joint" type ="revolute">
          <axis xyz="1 0 0"/>
          <limit effort="10000" lower ="-3.14" upper="3.14" velocity ="0.6"/>
          <origin rpy="0 0 0" xyz="0 0 0"/>
          <parent link="left_foot_cp_1_jointendsite_y_link"/>
          <child link="left_foot_cp_1_jointendsite_x_link"/>
      </joint>
      <link name="left_foot_cp_2_joint_z_link"/>
      <link name="left_foot_cp_2_joint_y_link"/>
      <link name="left_foot_cp_2_joint_x_link">
        <visual>
          <origin rpy="0 0 0" xyz="0 0 0"/>
          <geometry>
            <mesh filename="../rami/model/left_foot_cp_2_joint.obj"/>
          </geometry>
          <material name="Blue"/>
        </visual>
        <collision>
          <origin rpy="0 0 0" xyz="0 0 0"/>
          <geometry>
            <mesh filename="../rami/model/left_foot_cp_2_joint.obj"/>
          </geometry>
        </collision>
      </link>
      <joint name="left_foot_cp_2_joint_z_joint" type ="revolute">
          <axis xyz="0 0 1"/>
          <limit effort="10000" lower ="-3.14" upper="3.14" velocity ="0.6"/>
          <origin rpy="0 0 0" xyz="-0.09166 0.27372 -0.12195"/>
          <parent link="left_foot_x_joint_x_link"/>
          <child link="left_foot_cp_2_joint_z_link"/>
      </joint>
      <joint name="left_foot_cp_2_joint_y_joint" type ="revolute">
          <axis xyz="0 1 0"/>
          <limit effort="10000" lower ="-3.14" upper="3.14" velocity ="0.6"/>
          <origin rpy="0 0 0" xyz="0 0 0"/>
          <parent link="left_foot_cp_2_joint_z_link"/>
          <child link="left_foot_cp_2_joint_y_link"/>
      </joint>
      <joint name="left_foot_cp_2_joint_x_joint" type ="revolute">
          <axis xyz="1 0 0"/>
          <limit effort="10000" lower ="-3.14" upper="3.14" velocity ="0.6"/>
          <origin rpy="0 0 0" xyz="0 0 0"/>
          <parent link="left_foot_cp_2_joint_y_link"/>
          <child link="left_foot_cp_2_joint_x_link"/>
      </joint>
      <link name="left_foot_cp_2_jointendsite_z_link"/>
      <link name="left_foot_cp_2_jointendsite_y_link"/>
      <link name="left_foot_cp_2_jointendsite_x_link">
        <visual>
          <origin rpy="0 0 0" xyz="0 0 0"/>
          <geometry>
            <mesh filename="../rami/model/left_foot_cp_2_jointendsite.obj"/>
          </geometry>
          <material name="Blue"/>
        </visual>
        <collision>
          <origin rpy="0 0 0" xyz="0 0 0"/>
          <geometry>
            <mesh filename="../rami/model/left_foot_cp_2_jointendsite.obj"/>
          </geometry>
        </collision>
      </link>
      <joint name="left_foot_cp_2_jointendsite_z_joint" type ="revolute">
          <axis xyz="0 0 1"/>
          <limit effort="10000" lower ="-3.14" upper="3.14" velocity ="0.6"/>
          <origin rpy="0 0 0" xyz="-0.000146252 0.000436747 -0.000194583"/>
          <parent link="left_foot_cp_2_joint_x_link"/>
          <child link="left_foot_cp_2_jointendsite_z_link"/>
      </joint>
      <joint name="left_foot_cp_2_jointendsite_y_joint" type ="revolute">
          <axis xyz="0 1 0"/>
          <limit effort="10000" lower ="-3.14" upper="3.14" velocity ="0.6"/>
          <origin rpy="0 0 0" xyz="0 0 0"/>
          <parent link="left_foot_cp_2_jointendsite_z_link"/>
          <child link="left_foot_cp_2_jointendsite_y_link"/>
      </joint>
      <joint name="left_foot_cp_2_jointendsite_x_joint" type ="revolute">
          <axis xyz="1 0 0"/>
          <limit effort="10000" lower ="-3.14" upper="3.14" velocity ="0.6"/>
          <origin rpy="0 0 0" xyz="0 0 0"/>
          <parent link="left_foot_cp_2_jointendsite_y_link"/>
          <child link="left_foot_cp_2_jointendsite_x_link"/>
      </joint>
      <link name="left_foot_cp_3_joint_z_link"/>
      <link name="left_foot_cp_3_joint_y_link"/>
      <link name="left_foot_cp_3_joint_x_link">
        <visual>
          <origin rpy="0 0 0" xyz="0 0 0"/>
          <geometry>
            <mesh filename="../rami/model/left_foot_cp_3_joint.obj"/>
          </geometry>
          <material name="Blue"/>
        </visual>
        <collision>
          <origin rpy="0 0 0" xyz="0 0 0"/>
          <geometry>
            <mesh filename="../rami/model/left_foot_cp_3_joint.obj"/>
          </geometry>
        </collision>
      </link>
      <joint name="left_foot_cp_3_joint_z_joint" type ="revolute">
          <axis xyz="0 0 1"/>
          <limit effort="10000" lower ="-3.14" upper="3.14" velocity ="0.6"/>
          <origin rpy="0 0 0" xyz="-0.09166 -0.07769 -0.12195"/>
          <parent link="left_foot_x_joint_x_link"/>
          <child link="left_foot_cp_3_joint_z_link"/>
      </joint>
      <joint name="left_foot_cp_3_joint_y_joint" type ="revolute">
          <axis xyz="0 1 0"/>
          <limit effort="10000" lower ="-3.14" upper="3.14" velocity ="0.6"/>
          <origin rpy="0 0 0" xyz="0 0 0"/>
          <parent link="left_foot_cp_3_joint_z_link"/>
          <child link="left_foot_cp_3_joint_y_link"/>
      </joint>
      <joint name="left_foot_cp_3_joint_x_joint" type ="revolute">
          <axis xyz="1 0 0"/>
          <limit effort="10000" lower ="-3.14" upper="3.14" velocity ="0.6"/>
          <origin rpy="0 0 0" xyz="0 0 0"/>
          <parent link="left_foot_cp_3_joint_y_link"/>
          <child link="left_foot_cp_3_joint_x_link"/>
      </joint>
      <link name="left_foot_cp_3_jointendsite_z_link"/>
      <link name="left_foot_cp_3_jointendsite_y_link"/>
      <link name="left_foot_cp_3_jointendsite_x_link">
        <visual>
          <origin rpy="0 0 0" xyz="0 0 0"/>
          <geometry>
            <mesh filename="../rami/model/left_foot_cp_3_jointendsite.obj"/>
          </geometry>
          <material name="Blue"/>
        </visual>
        <collision>
          <origin rpy="0 0 0" xyz="0 0 0"/>
          <geometry>
            <mesh filename="../rami/model/left_foot_cp_3_jointendsite.obj"/>
          </geometry>
        </collision>
      </link>
      <joint name="left_foot_cp_3_jointendsite_z_joint" type ="revolute">
          <axis xyz="0 0 1"/>
          <limit effort="10000" lower ="-3.14" upper="3.14" velocity ="0.6"/>
          <origin rpy="0 0 0" xyz="-0.0002677 -0.0002269 -0.000356164"/>
          <parent link="left_foot_cp_3_joint_x_link"/>
          <child link="left_foot_cp_3_jointendsite_z_link"/>
      </joint>
      <joint name="left_foot_cp_3_jointendsite_y_joint" type ="revolute">
          <axis xyz="0 1 0"/>
          <limit effort="10000" lower ="-3.14" upper="3.14" velocity ="0.6"/>
          <origin rpy="0 0 0" xyz="0 0 0"/>
          <parent link="left_foot_cp_3_jointendsite_z_link"/>
          <child link="left_foot_cp_3_jointendsite_y_link"/>
      </joint>
      <joint name="left_foot_cp_3_jointendsite_x_joint" type ="revolute">
          <axis xyz="1 0 0"/>
          <limit effort="10000" lower ="-3.14" upper="3.14" velocity ="0.6"/>
          <origin rpy="0 0 0" xyz="0 0 0"/>
          <parent link="left_foot_cp_3_jointendsite_y_link"/>
          <child link="left_foot_cp_3_jointendsite_x_link"/>
      </joint>
      <link name="left_foot_cp_4_joint_z_link"/>
      <link name="left_foot_cp_4_joint_y_link"/>
      <link name="left_foot_cp_4_joint_x_link">
        <visual>
          <origin rpy="0 0 0" xyz="0 0 0"/>
          <geometry>
            <mesh filename="../rami/model/left_foot_cp_4_joint.obj"/>
          </geometry>
          <material name="Blue"/>
        </visual>
        <collision>
          <origin rpy="0 0 0" xyz="0 0 0"/>
          <geometry>
            <mesh filename="../rami/model/left_foot_cp_4_joint.obj"/>
          </geometry>
        </collision>
      </link>
      <joint name="left_foot_cp_4_joint_z_joint" type ="revolute">
          <axis xyz="0 0 1"/>
          <limit effort="10000" lower ="-3.14" upper="3.14" velocity ="0.6"/>
          <origin rpy="0 0 0" xyz="0.08027 -0.07769 -0.12195"/>
          <parent link="left_foot_x_joint_x_link"/>
          <child link="left_foot_cp_4_joint_z_link"/>
      </joint>
      <joint name="left_foot_cp_4_joint_y_joint" type ="revolute">
          <axis xyz="0 1 0"/>
          <limit effort="10000" lower ="-3.14" upper="3.14" velocity ="0.6"/>
          <origin rpy="0 0 0" xyz="0 0 0"/>
          <parent link="left_foot_cp_4_joint_z_link"/>
          <child link="left_foot_cp_4_joint_y_link"/>
      </joint>
      <joint name="left_foot_cp_4_joint_x_joint" type ="revolute">
          <axis xyz="1 0 0"/>
          <limit effort="10000" lower ="-3.14" upper="3.14" velocity ="0.6"/>
          <origin rpy="0 0 0" xyz="0 0 0"/>
          <parent link="left_foot_cp_4_joint_y_link"/>
          <child link="left_foot_cp_4_joint_x_link"/>
      </joint>
      <link name="left_foot_cp_4_jointendsite_z_link"/>
      <link name="left_foot_cp_4_jointendsite_y_link"/>
      <link name="left_foot_cp_4_jointendsite_x_link">
        <visual>
          <origin rpy="0 0 0" xyz="0 0 0"/>
          <geometry>
            <mesh filename="../rami/model/left_foot_cp_4_jointendsite.obj"/>
          </geometry>
          <material name="Blue"/>
        </visual>
        <collision>
          <origin rpy="0 0 0" xyz="0 0 0"/>
          <geometry>
            <mesh filename="../rami/model/left_foot_cp_4_jointendsite.obj"/>
          </geometry>
        </collision>
      </link>
      <joint name="left_foot_cp_4_jointendsite_z_joint" type ="revolute">
          <axis xyz="0 0 1"/>
          <limit effort="10000" lower ="-3.14" upper="3.14" velocity ="0.6"/>
          <origin rpy="0 0 0" xyz="0.000242682 -0.000234882 -0.000368695"/>
          <parent link="left_foot_cp_4_joint_x_link"/>
          <child link="left_foot_cp_4_jointendsite_z_link"/>
      </joint>
      <joint name="left_foot_cp_4_jointendsite_y_joint" type ="revolute">
          <axis xyz="0 1 0"/>
          <limit effort="10000" lower ="-3.14" upper="3.14" velocity ="0.6"/>
          <origin rpy="0 0 0" xyz="0 0 0"/>
          <parent link="left_foot_cp_4_jointendsite_z_link"/>
          <child link="left_foot_cp_4_jointendsite_y_link"/>
      </joint>
      <joint name="left_foot_cp_4_jointendsite_x_joint" type ="revolute">
          <axis xyz="1 0 0"/>
          <limit effort="10000" lower ="-3.14" upper="3.14" velocity ="0.6"/>
          <origin rpy="0 0 0" xyz="0 0 0"/>
          <parent link="left_foot_cp_4_jointendsite_y_link"/>
          <child link="left_foot_cp_4_jointendsite_x_link"/>
      </joint>
      <link name="upper_right_leg_x_joint_z_link"/>
      <link name="upper_right_leg_x_joint_y_link"/>
      <link name="upper_right_leg_x_joint_x_link">
        <visual>
          <origin rpy="0 0 0" xyz="0 0 0"/>
          <geometry>
            <mesh filename="../rami/model/upper_right_leg_x_joint.obj"/>
          </geometry>
          <material name="Blue"/>
        </visual>
        <collision>
          <origin rpy="0 0 0" xyz="0 0 0"/>
          <geometry>
            <mesh filename="../rami/model/upper_right_leg_x_joint.obj"/>
          </geometry>
        </collision>
      </link>
      <joint name="upper_right_leg_x_joint_z_joint" type ="revolute">
          <axis xyz="0 0 1"/>
          <limit effort="10000" lower ="-3.14" upper="3.14" velocity ="0.6"/>
          <origin rpy="0 0 0" xyz="0.106044 -0.001956 -0.1443"/>
          <parent link="pelvis_link"/>
          <child link="upper_right_leg_x_joint_z_link"/>
      </joint>
      <joint name="upper_right_leg_x_joint_y_joint" type ="revolute">
          <axis xyz="0 1 0"/>
          <limit effort="10000" lower ="-3.14" upper="3.14" velocity ="0.6"/>
          <origin rpy="0 0 0" xyz="0 0 0"/>
          <parent link="upper_right_leg_x_joint_z_link"/>
          <child link="upper_right_leg_x_joint_y_link"/>
      </joint>
      <joint name="upper_right_leg_x_joint_x_joint" type ="revolute">
          <axis xyz="1 0 0"/>
          <limit effort="10000" lower ="-3.14" upper="3.14" velocity ="0.6"/>
          <origin rpy="0 0 0" xyz="0 0 0"/>
          <parent link="upper_right_leg_x_joint_y_link"/>
          <child link="upper_right_leg_x_joint_x_link"/>
      </joint>
      <link name="lower_right_leg_joint_z_link"/>
      <link name="lower_right_leg_joint_y_link"/>
      <link name="lower_right_leg_joint_x_link">
        <visual>
          <origin rpy="0 0 0" xyz="0 0 0"/>
          <geometry>
            <mesh filename="../rami/model/lower_right_leg_joint.obj"/>
          </geometry>
          <material name="Blue"/>
        </visual>
        <collision>
          <origin rpy="0 0 0" xyz="0 0 0"/>
          <geometry>
            <mesh filename="../rami/model/lower_right_leg_joint.obj"/>
          </geometry>
        </collision>
      </link>
      <joint name="lower_right_leg_joint_z_joint" type ="revolute">
          <axis xyz="0 0 1"/>
          <limit effort="10000" lower ="-3.14" upper="3.14" velocity ="0.6"/>
          <origin rpy="0 0 0" xyz="0.025332 -0.01956 -0.47778"/>
          <parent link="upper_right_leg_x_joint_x_link"/>
          <child link="lower_right_leg_joint_z_link"/>
      </joint>
      <joint name="lower_right_leg_joint_y_joint" type ="revolute">
          <axis xyz="0 1 0"/>
          <limit effort="10000" lower ="-3.14" upper="3.14" velocity ="0.6"/>
          <origin rpy="0 0 0" xyz="0 0 0"/>
          <parent link="lower_right_leg_joint_z_link"/>
          <child link="lower_right_leg_joint_y_link"/>
      </joint>
      <joint name="lower_right_leg_joint_x_joint" type ="revolute">
          <axis xyz="1 0 0"/>
          <limit effort="10000" lower ="-3.14" upper="3.14" velocity ="0.6"/>
          <origin rpy="0 0 0" xyz="0 0 0"/>
          <parent link="lower_right_leg_joint_y_link"/>
          <child link="lower_right_leg_joint_x_link"/>
      </joint>
      <link name="right_foot_x_joint_z_link"/>
      <link name="right_foot_x_joint_y_link"/>
      <link name="right_foot_x_joint_x_link">
        <visual>
          <origin rpy="0 0 0" xyz="0 0 0"/>
          <geometry>
            <mesh filename="../rami/model/right_foot_x_joint.obj"/>
          </geometry>
          <material name="Blue"/>
        </visual>
        <collision>
          <origin rpy="0 0 0" xyz="0 0 0"/>
          <geometry>
            <mesh filename="../rami/model/right_foot_x_joint.obj"/>
          </geometry>
        </collision>
      </link>
      <joint name="right_foot_x_joint_z_joint" type ="revolute">
          <axis xyz="0 0 1"/>
          <limit effort="10000" lower ="-3.14" upper="3.14" velocity ="0.6"/>
          <origin rpy="0 0 0" xyz="0.008988 0.036996 -0.474504"/>
          <parent link="lower_right_leg_joint_x_link"/>
          <child link="right_foot_x_joint_z_link"/>
      </joint>
      <joint name="right_foot_x_joint_y_joint" type ="revolute">
          <axis xyz="0 1 0"/>
          <limit effort="10000" lower ="-3.14" upper="3.14" velocity ="0.6"/>
          <origin rpy="0 0 0" xyz="0 0 0"/>
          <parent link="right_foot_x_joint_z_link"/>
          <child link="right_foot_x_joint_y_link"/>
      </joint>
      <joint name="right_foot_x_joint_x_joint" type ="revolute">
          <axis xyz="1 0 0"/>
          <limit effort="10000" lower ="-3.14" upper="3.14" velocity ="0.6"/>
          <origin rpy="0 0 0" xyz="0 0 0"/>
          <parent link="right_foot_x_joint_y_link"/>
          <child link="right_foot_x_joint_x_link"/>
      </joint>
      <link name="right_foot_cp_1_joint_z_link"/>
      <link name="right_foot_cp_1_joint_y_link"/>
      <link name="right_foot_cp_1_joint_x_link">
        <visual>
          <origin rpy="0 0 0" xyz="0 0 0"/>
          <geometry>
            <mesh filename="../rami/model/right_foot_cp_1_joint.obj"/>
          </geometry>
          <material name="Blue"/>
        </visual>
        <collision>
          <origin rpy="0 0 0" xyz="0 0 0"/>
          <geometry>
            <mesh filename="../rami/model/right_foot_cp_1_joint.obj"/>
          </geometry>
        </collision>
      </link>
      <joint name="right_foot_cp_1_joint_z_joint" type ="revolute">
          <axis xyz="0 0 1"/>
          <limit effort="10000" lower ="-3.14" upper="3.14" velocity ="0.6"/>
          <origin rpy="0 0 0" xyz="0.10495 0.2684 -0.12195"/>
          <parent link="right_foot_x_joint_x_link"/>
          <child link="right_foot_cp_1_joint_z_link"/>
      </joint>
      <joint name="right_foot_cp_1_joint_y_joint" type ="revolute">
          <axis xyz="0 1 0"/>
          <limit effort="10000" lower ="-3.14" upper="3.14" velocity ="0.6"/>
          <origin rpy="0 0 0" xyz="0 0 0"/>
          <parent link="right_foot_cp_1_joint_z_link"/>
          <child link="right_foot_cp_1_joint_y_link"/>
      </joint>
      <joint name="right_foot_cp_1_joint_x_joint" type ="revolute">
          <axis xyz="1 0 0"/>
          <limit effort="10000" lower ="-3.14" upper="3.14" velocity ="0.6"/>
          <origin rpy="0 0 0" xyz="0 0 0"/>
          <parent link="right_foot_cp_1_joint_y_link"/>
          <child link="right_foot_cp_1_joint_x_link"/>
      </joint>
      <link name="right_foot_cp_1_jointendsite_z_link"/>
      <link name="right_foot_cp_1_jointendsite_y_link"/>
      <link name="right_foot_cp_1_jointendsite_x_link">
        <visual>
          <origin rpy="0 0 0" xyz="0 0 0"/>
          <geometry>
            <mesh filename="../rami/model/right_foot_cp_1_jointendsite.obj"/>
          </geometry>
          <material name="Blue"/>
        </visual>
        <collision>
          <origin rpy="0 0 0" xyz="0 0 0"/>
          <geometry>
            <mesh filename="../rami/model/right_foot_cp_1_jointendsite.obj"/>
          </geometry>
        </collision>
      </link>
      <joint name="right_foot_cp_1_jointendsite_z_joint" type ="revolute">
          <axis xyz="0 0 1"/>
          <limit effort="10000" lower ="-3.14" upper="3.14" velocity ="0.6"/>
          <origin rpy="0 0 0" xyz="0.00016769 0.000428851 -0.000194852"/>
          <parent link="right_foot_cp_1_joint_x_link"/>
          <child link="right_foot_cp_1_jointendsite_z_link"/>
      </joint>
      <joint name="right_foot_cp_1_jointendsite_y_joint" type ="revolute">
          <axis xyz="0 1 0"/>
          <limit effort="10000" lower ="-3.14" upper="3.14" velocity ="0.6"/>
          <origin rpy="0 0 0" xyz="0 0 0"/>
          <parent link="right_foot_cp_1_jointendsite_z_link"/>
          <child link="right_foot_cp_1_jointendsite_y_link"/>
      </joint>
      <joint name="right_foot_cp_1_jointendsite_x_joint" type ="revolute">
          <axis xyz="1 0 0"/>
          <limit effort="10000" lower ="-3.14" upper="3.14" velocity ="0.6"/>
          <origin rpy="0 0 0" xyz="0 0 0"/>
          <parent link="right_foot_cp_1_jointendsite_y_link"/>
          <child link="right_foot_cp_1_jointendsite_x_link"/>
      </joint>
      <link name="right_foot_cp_2_joint_z_link"/>
      <link name="right_foot_cp_2_joint_y_link"/>
      <link name="right_foot_cp_2_joint_x_link">
        <visual>
          <origin rpy="0 0 0" xyz="0 0 0"/>
          <geometry>
            <mesh filename="../rami/model/right_foot_cp_2_joint.obj"/>
          </geometry>
          <material name="Blue"/>
        </visual>
        <collision>
          <origin rpy="0 0 0" xyz="0 0 0"/>
          <geometry>
            <mesh filename="../rami/model/right_foot_cp_2_joint.obj"/>
          </geometry>
        </collision>
      </link>
      <joint name="right_foot_cp_2_joint_z_joint" type ="revolute">
          <axis xyz="0 0 1"/>
          <limit effort="10000" lower ="-3.14" upper="3.14" velocity ="0.6"/>
          <origin rpy="0 0 0" xyz="-0.06698 0.2684 -0.12195"/>
          <parent link="right_foot_x_joint_x_link"/>
          <child link="right_foot_cp_2_joint_z_link"/>
      </joint>
      <joint name="right_foot_cp_2_joint_y_joint" type ="revolute">
          <axis xyz="0 1 0"/>
          <limit effort="10000" lower ="-3.14" upper="3.14" velocity ="0.6"/>
          <origin rpy="0 0 0" xyz="0 0 0"/>
          <parent link="right_foot_cp_2_joint_z_link"/>
          <child link="right_foot_cp_2_joint_y_link"/>
      </joint>
      <joint name="right_foot_cp_2_joint_x_joint" type ="revolute">
          <axis xyz="1 0 0"/>
          <limit effort="10000" lower ="-3.14" upper="3.14" velocity ="0.6"/>
          <origin rpy="0 0 0" xyz="0 0 0"/>
          <parent link="right_foot_cp_2_joint_y_link"/>
          <child link="right_foot_cp_2_joint_x_link"/>
      </joint>
      <link name="right_foot_cp_2_jointendsite_z_link"/>
      <link name="right_foot_cp_2_jointendsite_y_link"/>
      <link name="right_foot_cp_2_jointendsite_x_link">
        <visual>
          <origin rpy="0 0 0" xyz="0 0 0"/>
          <geometry>
            <mesh filename="../rami/model/right_foot_cp_2_jointendsite.obj"/>
          </geometry>
          <material name="Blue"/>
        </visual>
        <collision>
          <origin rpy="0 0 0" xyz="0 0 0"/>
          <geometry>
            <mesh filename="../rami/model/right_foot_cp_2_jointendsite.obj"/>
          </geometry>
        </collision>
      </link>
      <joint name="right_foot_cp_2_jointendsite_z_joint" type ="revolute">
          <axis xyz="0 0 1"/>
          <limit effort="10000" lower ="-3.14" upper="3.14" velocity ="0.6"/>
          <origin rpy="0 0 0" xyz="-0.000110777 0.000443902 -0.000201691"/>
          <parent link="right_foot_cp_2_joint_x_link"/>
          <child link="right_foot_cp_2_jointendsite_z_link"/>
      </joint>
      <joint name="right_foot_cp_2_jointendsite_y_joint" type ="revolute">
          <axis xyz="0 1 0"/>
          <limit effort="10000" lower ="-3.14" upper="3.14" velocity ="0.6"/>
          <origin rpy="0 0 0" xyz="0 0 0"/>
          <parent link="right_foot_cp_2_jointendsite_z_link"/>
          <child link="right_foot_cp_2_jointendsite_y_link"/>
      </joint>
      <joint name="right_foot_cp_2_jointendsite_x_joint" type ="revolute">
          <axis xyz="1 0 0"/>
          <limit effort="10000" lower ="-3.14" upper="3.14" velocity ="0.6"/>
          <origin rpy="0 0 0" xyz="0 0 0"/>
          <parent link="right_foot_cp_2_jointendsite_y_link"/>
          <child link="right_foot_cp_2_jointendsite_x_link"/>
      </joint>
      <link name="right_foot_cp_3_joint_z_link"/>
      <link name="right_foot_cp_3_joint_y_link"/>
      <link name="right_foot_cp_3_joint_x_link">
        <visual>
          <origin rpy="0 0 0" xyz="0 0 0"/>
          <geometry>
            <mesh filename="../rami/model/right_foot_cp_3_joint.obj"/>
          </geometry>
          <material name="Blue"/>
        </visual>
        <collision>
          <origin rpy="0 0 0" xyz="0 0 0"/>
          <geometry>
            <mesh filename="../rami/model/right_foot_cp_3_joint.obj"/>
          </geometry>
        </collision>
      </link>
      <joint name="right_foot_cp_3_joint_z_joint" type ="revolute">
          <axis xyz="0 0 1"/>
          <limit effort="10000" lower ="-3.14" upper="3.14" velocity ="0.6"/>
          <origin rpy="0 0 0" xyz="-0.06698 -0.08301 -0.12195"/>
          <parent link="right_foot_x_joint_x_link"/>
          <child link="right_foot_cp_3_joint_z_link"/>
      </joint>
      <joint name="right_foot_cp_3_joint_y_joint" type ="revolute">
          <axis xyz="0 1 0"/>
          <limit effort="10000" lower ="-3.14" upper="3.14" velocity ="0.6"/>
          <origin rpy="0 0 0" xyz="0 0 0"/>
          <parent link="right_foot_cp_3_joint_z_link"/>
          <child link="right_foot_cp_3_joint_y_link"/>
      </joint>
      <joint name="right_foot_cp_3_joint_x_joint" type ="revolute">
          <axis xyz="1 0 0"/>
          <limit effort="10000" lower ="-3.14" upper="3.14" velocity ="0.6"/>
          <origin rpy="0 0 0" xyz="0 0 0"/>
          <parent link="right_foot_cp_3_joint_y_link"/>
          <child link="right_foot_cp_3_joint_x_link"/>
      </joint>
      <link name="right_foot_cp_3_jointendsite_z_link"/>
      <link name="right_foot_cp_3_jointendsite_y_link"/>
      <link name="right_foot_cp_3_jointendsite_x_link">
        <visual>
          <origin rpy="0 0 0" xyz="0 0 0"/>
          <geometry>
            <mesh filename="../rami/model/right_foot_cp_3_jointendsite.obj"/>
          </geometry>
          <material name="Blue"/>
        </visual>
        <collision>
          <origin rpy="0 0 0" xyz="0 0 0"/>
          <geometry>
            <mesh filename="../rami/model/right_foot_cp_3_jointendsite.obj"/>
          </geometry>
        </collision>
      </link>
      <joint name="right_foot_cp_3_jointendsite_z_joint" type ="revolute">
          <axis xyz="0 0 1"/>
          <limit effort="10000" lower ="-3.14" upper="3.14" velocity ="0.6"/>
          <origin rpy="0 0 0" xyz="-0.00020671 -0.00025618 -0.000376355"/>
          <parent link="right_foot_cp_3_joint_x_link"/>
          <child link="right_foot_cp_3_jointendsite_z_link"/>
      </joint>
      <joint name="right_foot_cp_3_jointendsite_y_joint" type ="revolute">
          <axis xyz="0 1 0"/>
          <limit effort="10000" lower ="-3.14" upper="3.14" velocity ="0.6"/>
          <origin rpy="0 0 0" xyz="0 0 0"/>
          <parent link="right_foot_cp_3_jointendsite_z_link"/>
          <child link="right_foot_cp_3_jointendsite_y_link"/>
      </joint>
      <joint name="right_foot_cp_3_jointendsite_x_joint" type ="revolute">
          <axis xyz="1 0 0"/>
          <limit effort="10000" lower ="-3.14" upper="3.14" velocity ="0.6"/>
          <origin rpy="0 0 0" xyz="0 0 0"/>
          <parent link="right_foot_cp_3_jointendsite_y_link"/>
          <child link="right_foot_cp_3_jointendsite_x_link"/>
      </joint>
      <link name="right_foot_cp_4_joint_z_link"/>
      <link name="right_foot_cp_4_joint_y_link"/>
      <link name="right_foot_cp_4_joint_x_link">
        <visual>
          <origin rpy="0 0 0" xyz="0 0 0"/>
          <geometry>
            <mesh filename="../rami/model/right_foot_cp_4_joint.obj"/>
          </geometry>
          <material name="Blue"/>
        </visual>
        <collision>
          <origin rpy="0 0 0" xyz="0 0 0"/>
          <geometry>
            <mesh filename="../rami/model/right_foot_cp_4_joint.obj"/>
          </geometry>
        </collision>
      </link>
      <joint name="right_foot_cp_4_joint_z_joint" type ="revolute">
          <axis xyz="0 0 1"/>
          <limit effort="10000" lower ="-3.14" upper="3.14" velocity ="0.6"/>
          <origin rpy="0 0 0" xyz="0.10495 -0.08301 -0.12195"/>
          <parent link="right_foot_x_joint_x_link"/>
          <child link="right_foot_cp_4_joint_z_link"/>
      </joint>
      <joint name="right_foot_cp_4_joint_y_joint" type ="revolute">
          <axis xyz="0 1 0"/>
          <limit effort="10000" lower ="-3.14" upper="3.14" velocity ="0.6"/>
          <origin rpy="0 0 0" xyz="0 0 0"/>
          <parent link="right_foot_cp_4_joint_z_link"/>
          <child link="right_foot_cp_4_joint_y_link"/>
      </joint>
      <joint name="right_foot_cp_4_joint_x_joint" type ="revolute">
          <axis xyz="1 0 0"/>
          <limit effort="10000" lower ="-3.14" upper="3.14" velocity ="0.6"/>
          <origin rpy="0 0 0" xyz="0 0 0"/>
          <parent link="right_foot_cp_4_joint_y_link"/>
          <child link="right_foot_cp_4_joint_x_link"/>
      </joint>
      <link name="right_foot_cp_4_jointendsite_z_link"/>
      <link name="right_foot_cp_4_jointendsite_y_link"/>
      <link name="right_foot_cp_4_jointendsite_x_link">
        <visual>
          <origin rpy="0 0 0" xyz="0 0 0"/>
          <geometry>
            <mesh filename="../rami/model/right_foot_cp_4_jointendsite.obj"/>
          </geometry>
          <material name="Blue"/>
        </visual>
        <collision>
          <origin rpy="0 0 0" xyz="0 0 0"/>
          <geometry>
            <mesh filename="../rami/model/right_foot_cp_4_jointendsite.obj"/>
          </geometry>
        </collision>
      </link>
      <joint name="right_foot_cp_4_jointendsite_z_joint" type ="revolute">
          <axis xyz="0 0 1"/>
          <limit effort="10000" lower ="-3.14" upper="3.14" velocity ="0.6"/>
          <origin rpy="0 0 0" xyz="0.000289847 -0.000229254 -0.000336796"/>
          <parent link="right_foot_cp_4_joint_x_link"/>
          <child link="right_foot_cp_4_jointendsite_z_link"/>
      </joint>
      <joint name="right_foot_cp_4_jointendsite_y_joint" type ="revolute">
          <axis xyz="0 1 0"/>
          <limit effort="10000" lower ="-3.14" upper="3.14" velocity ="0.6"/>
          <origin rpy="0 0 0" xyz="0 0 0"/>
          <parent link="right_foot_cp_4_jointendsite_z_link"/>
          <child link="right_foot_cp_4_jointendsite_y_link"/>
      </joint>
      <joint name="right_foot_cp_4_jointendsite_x_joint" type ="revolute">
          <axis xyz="1 0 0"/>
          <limit effort="10000" lower ="-3.14" upper="3.14" velocity ="0.6"/>
          <origin rpy="0 0 0" xyz="0 0 0"/>
          <parent link="right_foot_cp_4_jointendsite_y_link"/>
          <child link="right_foot_cp_4_jointendsite_x_link"/>
      </joint>

</robot>
